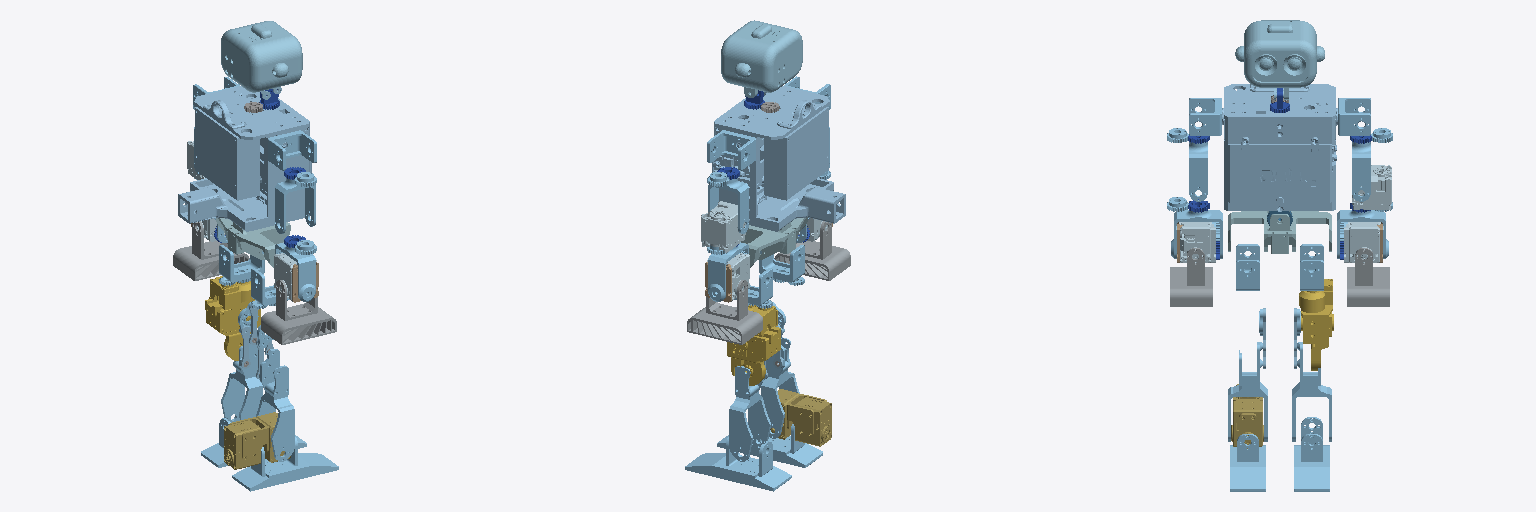
--- Facts derived from the render (not from the file) ---
3 views of the same robot in one strip: view 1: azimuth 30°, elevation 25°; view 2: azimuth 150°, elevation 25°; view 3: azimuth 270°, elevation 25° (orthographic).
Model toddlerbot with 67 links and 66 joints (56 revolute, 10 fixed), rooted at torso, posed all joints at 0.
Links seen in each view (by area): view 1: torso, head, right_calf_link, hand_2, left_hip_pitch_link, right_ank_pitch_link, ank_roll_link_2, left_calf_link, hand, waist_link, sho_pitch_link_2, sho_yaw_link_2 (+5 smaller); view 2: torso, head, left_calf_link, ank_roll_link, hand, right_ank_pitch_link, left_hip_pitch_link, hand_2, right_calf_link, 2xl430_gears_2, waist_link, ank_roll_link_2 (+6 smaller); view 3: torso, head, ank_roll_link, waist_link, left_hip_pitch_link, hand_2, hand, ank_roll_link_2, right_ank_pitch_link, 2xl430_gears_3, 2xl430_gears_6, right_calf_link (+10 smaller).
Boxes of the visible links, x1,y1,x2,y2 form: torso: [178, 86, 311, 231]; head: [221, 21, 302, 92]; right_calf_link: [256, 349, 294, 461]; hand_2: [261, 280, 336, 344]; left_hip_pitch_link: [205, 276, 260, 360]; right_ank_pitch_link: [224, 412, 290, 469]; ank_roll_link_2: [232, 437, 338, 491]; left_calf_link: [221, 334, 262, 422]; hand: [173, 221, 249, 280]; waist_link: [216, 218, 290, 267]; sho_pitch_link_2: [268, 130, 316, 170]; sho_yaw_link_2: [275, 178, 315, 233]; torso: [712, 86, 845, 231]; head: [721, 20, 802, 97]; left_calf_link: [729, 366, 770, 461]; ank_roll_link: [685, 437, 791, 491]; hand: [687, 280, 762, 344]; right_ank_pitch_link: [770, 389, 831, 446]; left_hip_pitch_link: [727, 305, 780, 385]; hand_2: [774, 221, 850, 280]; right_calf_link: [761, 337, 799, 438]; 2xl430_gears_2: [701, 201, 745, 252]; waist_link: [741, 217, 807, 267]; ank_roll_link_2: [717, 424, 822, 467]; torso: [1222, 84, 1337, 211]; head: [1235, 20, 1324, 99]; ank_roll_link: [1294, 417, 1329, 491]; waist_link: [1228, 211, 1331, 253]; left_hip_pitch_link: [1299, 279, 1333, 370]; hand_2: [1170, 248, 1212, 306]; hand: [1347, 248, 1389, 306]; ank_roll_link_2: [1230, 434, 1265, 491]; right_ank_pitch_link: [1231, 384, 1263, 448]; 2xl430_gears_3: [1344, 222, 1380, 262]; 2xl430_gears_6: [1179, 222, 1215, 262]; right_calf_link: [1228, 342, 1267, 441].
Bounding box of the posed robot: 0.1752 × 0.2619 × 0.5614 m (x, y, z).
Meshes: 67 distinct files referenced, 60 mesh visuals loaded (60 binary STL); not drawn: 7 (reference not matched to a file when rendering).

The robot description file, URDF, robot "toddlerbot":
<?xml version="1.0" ?>
<robot name="toddlerbot">
  <mujoco>
    <compiler strippath="false" balanceinertia="true" discardvisual="false"/>
  </mujoco>
  <link name="torso">
    <visual>
      <origin xyz="0 0 0" rpy="0 -0 0"/>
      <geometry>
        <mesh filename="../assemblies/toddlerbot/meshes/torso_visual.stl"/>
      </geometry>
      <material name="torso_material">
        <color rgba="0.63866204066417398 0.79042612983052995546 0.89591918647189450198 1.0"/>
      </material>
    </visual>
    <collision name="torso_collision">
      <origin xyz="-0.02850000374019146 -5.000084638595581e-05 0.07068824046291411" rpy="0 0 0"/>
      <geometry>
        <box size="0.14100000634789467 0.13759998977184296 0.1454972173087299"/>
      </geometry>
    </collision>
    <inertial>
      <origin xyz="-0.0026180240206912603826 -0.0033389249991023252362 0.065426598309827305178" rpy="0 0 0"/>
      <mass value="1.085065963101202513"/>
      <inertia ixx="0.0028394422513802835238" ixy="7.2802503934375956997e-05" ixz="1.3076400897980156921e-05" iyy="0.002260906039368253042" iyz="-2.183962720868887802e-05" izz="0.0022996340769918456777"/>
    </inertial>
  </link>
  <link name="spur_1m_20t">
    <visual>
      <origin xyz="0 0 0" rpy="0 -0 0"/>
      <geometry>
        <mesh filename="../assemblies/toddlerbot/meshes/spur_1m_20t_visual.stl"/>
      </geometry>
      <material name="spur_1m_20t_material">
        <color rgba="0.64705882352941179736 0.64705882352941179736 0.64705882352941179736 1.0"/>
      </material>
    </visual>
    <inertial>
      <origin xyz="-1.1300904133467477148e-18 -8.2138761651919509895e-18 0.0033842321054344710884" rpy="0 0 0"/>
      <mass value="0.0015778025963746002049"/>
      <inertia ixx="4.5874424196602111379e-08" ixy="3.1933561703873518534e-24" ixz="8.2808267371582993255e-38" iyy="4.5874424196602091527e-08" iyz="-6.0163727915893723463e-38" izz="8.1737050837173876176e-08"/>
    </inertial>
  </link>
  <joint name="neck_yaw_drive" type="revolute">
    <origin xyz="-0.0049999999999995195857 2.6218353247046111074e-18 0.12148651076281755112" rpy="6.9435866101192579278e-15 7.3280040413333374539e-15 -5.2566133713766224513e-15"/>
    <parent link="torso"/>
    <child link="spur_1m_20t"/>
    <axis xyz="0 0 1"/>
    <limit effort="1" velocity="20" lower="-2.8797932657906435416" upper="2.8797932657906435416"/>
    <joint_properties friction="0.0"/>
  </joint>
  <link name="neck_yaw_link_v2">
    <visual>
      <origin xyz="0 0 0" rpy="0 -0 0"/>
      <geometry>
        <mesh filename="../assemblies/toddlerbot/meshes/neck_yaw_link_v2_visual.stl"/>
      </geometry>
      <material name="neck_yaw_link_v2_material">
        <color rgba="0.2313725490196078538 0.38039215686274513439 0.7058823529411765163 1.0"/>
      </material>
    </visual>
    <inertial>
      <origin xyz="-1.1403990895039929665e-06 -1.1841855607304331475e-10 0.0082571849701004625122" rpy="0 0 0"/>
      <mass value="0.0067298837334394097723"/>
      <inertia ixx="5.226606762476552417e-07" ixy="-6.304640079419265662e-15" ixz="1.1949403084477248015e-09" iyy="6.1218519979554078817e-07" iyz="-2.6012808779597337169e-15" izz="2.8062851709981670442e-07"/>
    </inertial>
  </link>
  <link name="head">
    <visual>
      <origin xyz="0 0 0" rpy="0 -0 0"/>
      <geometry>
        <mesh filename="../assemblies/toddlerbot/meshes/head_visual.stl"/>
      </geometry>
      <material name="head_material">
        <color rgba="0.62873939703496795062 0.79364291305093481732 0.87330110949792516539 1.0"/>
      </material>
    </visual>
    <inertial>
      <origin xyz="-0.045316002313821032721 -0.011276855645191508418 -0.0010251236602536308116" rpy="0 0 0"/>
      <mass value="0.13722101760550839411"/>
      <inertia ixx="0.00011880807294044862146" ixy="1.1390016804761055477e-06" ixz="1.8378816154939927108e-06" iyy="0.00010489076115433052991" iyz="-9.2536559812163435491e-06" izz="9.1894624061611778995e-05"/>
    </inertial>
  </link>
  <link name="motor_plate">
    <visual>
      <origin xyz="0 0 0" rpy="0 -0 0"/>
      <geometry>
        <mesh filename="../assemblies/toddlerbot/meshes/motor_plate_visual.stl"/>
      </geometry>
      <material name="motor_plate_material">
        <color rgba="0.64705882352941179736 0.64705882352941179736 0.64705882352941179736 1.0"/>
      </material>
    </visual>
    <inertial>
      <origin xyz="0 3.4694469519536141888e-18 -0.0028281768943845490144" rpy="0 0 0"/>
      <mass value="0.0016999999999999999053"/>
      <inertia ixx="4.8050290733103730215e-08" ixy="1.0773753257370437902e-09" ixz="2.6292013878342271482e-36" iyy="5.1782428339099030199e-08" iyz="4.6279080697707239297e-37" izz="9.2194729037862196389e-08"/>
    </inertial>
  </link>
  <link name="bearing_683">
    <visual>
      <origin xyz="0 0 0" rpy="0 -0 0"/>
      <geometry>
        <mesh filename="../assemblies/toddlerbot/meshes/bearing_683_visual.stl"/>
      </geometry>
      <material name="bearing_683_material">
        <color rgba="0.64705882352941179736 0.64705882352941179736 0.64705882352941179736 1.0"/>
      </material>
    </visual>
    <inertial>
      <origin xyz="-2.7648254672676526986e-17 2.7997443358460509995e-17 -0.0015500000000000008129" rpy="0 0 0"/>
      <mass value="0.00048694686130641793437"/>
      <inertia ixx="2.1551456503319879113e-09" ixy="1.0805664552050303029e-25" ixz="2.7791788803624942178e-38" iyy="2.1551456503319883249e-09" iyz="-6.2270811565965561025e-39" izz="3.5303647444715305817e-09"/>
    </inertial>
  </link>
  <joint name="neck_pitch_front_rev_2" type="revolute">
    <origin xyz="-0.0019411428382689055461 -0.0072444436971680244153 -0.0055000000000000014155" rpy="1.648198112299273894e-14 -4.6631263956190005776e-15 0.8807659428774070598"/>
    <parent link="motor_plate"/>
    <child link="bearing_683"/>
    <axis xyz="0 0 1"/>
    <limit effort="1" velocity="20" lower="-6.283185307179586232" upper="6.283185307179586232"/>
    <joint_properties friction="0.0"/>
  </joint>
  <link name="bearing_683_2">
    <visual>
      <origin xyz="0 0 0" rpy="0 -0 0"/>
      <geometry>
        <mesh filename="../assemblies/toddlerbot/meshes/bearing_683_2_visual.stl"/>
      </geometry>
      <material name="bearing_683_2_material">
        <color rgba="0.64705882352941179736 0.64705882352941179736 0.64705882352941179736 1.0"/>
      </material>
    </visual>
    <inertial>
      <origin xyz="1.0732094295237706334e-19 2.4186774283160206952e-19 -0.0015499999999999999455" rpy="0 0 0"/>
      <mass value="0.00048694686130641793437"/>
      <inertia ixx="2.1551456503319887385e-09" ixy="2.2768440186723943194e-25" ixz="-2.7783146208504636862e-41" iyy="2.1551456503319874977e-09" iyz="-4.0130515075389140523e-40" izz="3.5303647444715305817e-09"/>
    </inertial>
  </link>
  <joint name="neck_pitch_back_rev_2" type="revolute">
    <origin xyz="0.0019411428382688777905 0.0072444436971680035986 -0.0055000000000000014155" rpy="-1.772972718293551218e-13 -8.9252052021485662993e-14 0.877871016585597852"/>
    <parent link="motor_plate"/>
    <child link="bearing_683_2"/>
    <axis xyz="0 0 1"/>
    <limit effort="1" velocity="20" lower="-6.283185307179586232" upper="6.283185307179586232"/>
    <joint_properties friction="0.0"/>
  </joint>
  <joint name="neck_pitch_act" type="revolute">
    <origin xyz="-0.03261569771856148714 -0.026999999999999829692 0.0025000000000000568642" rpy="-3.1415926535897500393 -1.9259241935317556699e-13 -3.1415926535897105154"/>
    <parent link="head"/>
    <child link="motor_plate"/>
    <axis xyz="0 0 1"/>
    <limit effort="1" velocity="20" lower="-1.3962634015954635824" upper="0.61086523819801530344"/>
    <joint_properties friction="0.0"/>
  </joint>
  <joint name="neck_pitch" type="revolute">
    <origin xyz="4.0939474033052647428e-16 0.0039999999999996652816 0.019399999999999681388" rpy="-1.570796326794896558 1.5671692223473558947 3.1415926535895866145"/>
    <parent link="neck_yaw_link_v2"/>
    <child link="head"/>
    <axis xyz="0 0 1"/>
    <limit effort="1" velocity="20" lower="-1.3962634015954635824" upper="0.61086523819801530344"/>
    <joint_properties friction="0.0"/>
  </joint>
  <link name="neck_rod">
    <visual>
      <origin xyz="0 0 0" rpy="0 -0 0"/>
      <geometry>
        <mesh filename="../assemblies/toddlerbot/meshes/neck_rod_visual.stl"/>
      </geometry>
      <material name="neck_rod_material">
        <color rgba="0.62051618944235187314 0.78640765248647570562 0.88594253031295011613 1.0"/>
      </material>
    </visual>
    <inertial>
      <origin xyz="0.017942953356017549843 -4.2302323058491907029e-05 -0.0016023848482654536388" rpy="0 0 0"/>
      <mass value="0.0031629468613064174939"/>
      <inertia ixx="1.6183187611801482051e-08" ixy="4.3686324078027123917e-10" ixz="5.409871828883835504e-10" iyy="7.9430220338146775594e-07" iyz="-1.2754318712098216996e-12" izz="8.0573905690504716438e-07"/>
    </inertial>
  </link>
  <joint name="neck_pitch_front_rev_1" type="revolute">
    <origin xyz="-0.0072444436971676028775 -0.0040000000000003348849 0.017458857161730803598" rpy="1.5707963267945912467 -0.88439304732486501148 -3.1415926535895128957"/>
    <parent link="neck_yaw_link_v2"/>
    <child link="neck_rod"/>
    <axis xyz="0 0 1"/>
    <limit effort="1" velocity="20" lower="-6.283185307179586232" upper="6.283185307179586232"/>
    <joint_properties friction="0.0"/>
  </joint>
  <link name="neck_rod_2">
    <visual>
      <origin xyz="0 0 0" rpy="0 -0 0"/>
      <geometry>
        <mesh filename="../assemblies/toddlerbot/meshes/neck_rod_2_visual.stl"/>
      </geometry>
      <material name="neck_rod_2_material">
        <color rgba="0.62051618944235187314 0.78640765248647570562 0.88594253031295011613 1.0"/>
      </material>
    </visual>
    <inertial>
      <origin xyz="0.017901072327987890831 4.2302323075698717279e-05 -0.0016023848482719094122" rpy="0 0 0"/>
      <mass value="0.0031629468613064174939"/>
      <inertia ixx="1.618318761180265003e-08" ixy="-4.3584354920108695193e-10" ixz="5.3972445329606849492e-10" iyy="7.9343818800635532239e-07" iyz="1.2754318723706440774e-12" izz="8.0487504152993547198e-07"/>
    </inertial>
  </link>
  <joint name="neck_pitch_back_rev_1" type="revolute">
    <origin xyz="0.0072444436971684372795 -0.0040000000000003444259 0.021341142838268642445" rpy="1.57079632679489678 -0.88149812103305569266 3.141592653589793116"/>
    <parent link="neck_yaw_link_v2"/>
    <child link="neck_rod_2"/>
    <axis xyz="0 0 1"/>
    <limit effort="1" velocity="20" lower="-6.283185307179586232" upper="6.283185307179586232"/>
    <joint_properties friction="0.0"/>
  </joint>
  <joint name="neck_yaw_driven" type="revolute">
    <origin xyz="0.016000000000000187683 3.3495693113774157688e-16 0.12248651076281769079" rpy="1.1355899249689346505e-28 4.0151578034893218507e-15 -8.6007558735577894134e-16"/>
    <parent link="torso"/>
    <child link="neck_yaw_link_v2"/>
    <axis xyz="0 0 1"/>
    <limit effort="1" velocity="20" lower="-2.6179938779914944114" upper="2.6179938779914944114"/>
    <joint_properties friction="0.0"/>
  </joint>
  <link name="waist_gears">
    <visual>
      <origin xyz="0 0 0" rpy="0 -0 0"/>
      <geometry>
        <mesh filename="../assemblies/toddlerbot/meshes/waist_gears_visual.stl"/>
      </geometry>
      <material name="waist_gears_material">
        <color rgba="0.29673072126509869584 0.50090014891145373532 0.63316042503557945498 1.0"/>
      </material>
    </visual>
    <inertial>
      <origin xyz="-2.908902430919231e-07 5.5035553754012024303e-08 -0.012592985430860473284" rpy="0 0 0"/>
      <mass value="0.026337180140419177987"/>
      <inertia ixx="1.5367047941033391468e-06" ixy="1.8828487086056562372e-11" ixz="4.0600521961735931123e-10" iyy="7.3024712275450283125e-06" iyz="3.2911737859007853936e-12" izz="6.9859065635059256703e-06"/>
    </inertial>
  </link>
  <link name="waist_link">
    <visual>
      <origin xyz="0 0 0" rpy="0 -0 0"/>
      <geometry>
        <mesh filename="../assemblies/toddlerbot/meshes/waist_link_visual.stl"/>
      </geometry>
      <material name="waist_link_material">
        <color rgba="0.64205964988973118768 0.77112878115803895618 0.80455743168009175026 1.0"/>
      </material>
    </visual>
    <collision name="waist_link_collision">
      <origin xyz="0.0 -0.021850000135600567 -0.022750000469386578" rpy="0 0 0"/>
      <geometry>
        <box size="0.11999999731779099 0.057499999180436134 0.07000000216066837"/>
      </geometry>
    </collision>
    <inertial>
      <origin xyz="-1.5259387594791803393e-17 -0.024647143936898239375 -0.024243097328499926824" rpy="0 0 0"/>
      <mass value="0.10819999998618363979"/>
      <inertia ixx="4.7479700735669831376e-05" ixy="-4.0569486732969518828e-20" ixz="-5.6250747312697810454e-09" iyy="9.6352172992785395161e-05" iyz="1.5514215856080582023e-06" izz="6.724924647302820465e-05"/>
    </inertial>
  </link>
  <link name="spiral_bevel_1m_14t_30deg">
    <visual>
      <origin xyz="0 0 0" rpy="0 -0 0"/>
      <geometry>
        <mesh filename="../assemblies/toddlerbot/meshes/spiral_bevel_1m_14t_30deg_visual.stl"/>
      </geometry>
      <material name="spiral_bevel_1m_14t_30deg_material">
        <color rgba="0.64705882352941179736 0.64705882352941179736 0.64705882352941179736 1.0"/>
      </material>
    </visual>
    <inertial>
      <origin xyz="7.4971447279470481499e-10 7.1802237549753455959e-10 0.0066868955018979121113" rpy="0 0 0"/>
      <mass value="0.00073261524436595492574"/>
      <inertia ixx="1.3495056019478195011e-08" ixy="4.0596681656909248509e-17" ixz="8.5992550180286643448e-16" iyy="1.3495056150237195634e-08" iyz="-6.7913008238911449477e-16" izz="1.4355986549816401791e-08"/>
    </inertial>
  </link>
  <joint name="waist_act_1" type="revolute">
    <origin xyz="1.5779046203862292755e-18 -0.019600000000000009776 -0.012750000000000000916" rpy="1.570796326794896336 4.5657245710443242119e-14 3.1415926535897775729"/>
    <parent link="waist_link"/>
    <child link="spiral_bevel_1m_14t_30deg"/>
    <axis xyz="0 0 1"/>
    <limit effort="1" velocity="20" lower="-4.6774823953448034786" upper="4.6774823953448034786"/>
    <joint_properties friction="0.0"/>
  </joint>
  <link name="spiral_bevel_1m_14t_30deg_2">
    <visual>
      <origin xyz="0 0 0" rpy="0 -0 0"/>
      <geometry>
        <mesh filename="../assemblies/toddlerbot/meshes/spiral_bevel_1m_14t_30deg_2_visual.stl"/>
      </geometry>
      <material name="spiral_bevel_1m_14t_30deg_2_material">
        <color rgba="0.64705882352941179736 0.64705882352941179736 0.64705882352941179736 1.0"/>
      </material>
    </visual>
    <inertial>
      <origin xyz="3.6393116992217144912e-10 -9.7220472557862924745e-10 -0.0066868955018979155808" rpy="0 0 0"/>
      <mass value="0.00073261524436595492574"/>
      <inertia ixx="1.3495056012354477525e-08" ixy="2.5804135492145296637e-17" ixz="-1.0694296052499994646e-15" iyy="1.3495056157360913119e-08" iyz="-2.3876736942924337051e-16" izz="1.4355986549816401791e-08"/>
    </inertial>
  </link>
  <joint name="waist_act_2" type="revolute">
    <origin xyz="-4.2424946903466443955e-18 -0.019600000000000016714 -0.03275000000000001521" rpy="-1.570796326794896558 4.4675706846037577046e-14 3.1415926535897922278"/>
    <parent link="waist_link"/>
    <child link="spiral_bevel_1m_14t_30deg_2"/>
    <axis xyz="0 0 1"/>
    <limit effort="1" velocity="20" lower="-4.6774823953448034786" upper="4.6774823953448034786"/>
    <joint_properties friction="0.0"/>
  </joint>
  <joint name="left_hip_pitch" type="revolute">
    <origin xyz="0.056000000000000001166 -0.040099999999999996758 -0.022750000000000002859" rpy="-1.570796326794896558 1.184178074896365092e-14 1.5707963267948958919"/>
    <parent link="waist_link"/>
    <child link="2xc430"/>
    <axis xyz="0 0 1"/>
    <limit effort="1" velocity="20" lower="-1.570796326794896558" upper="2.356194490192344837"/>
    <joint_properties friction="0.0"/>
  </joint>
  <joint name="right_hip_pitch" type="revolute">
    <origin xyz="-0.056000000000000008105 -0.040100000000000010636 -0.022750000000000002859" rpy="1.57079632679489678 -3.5857808115535774538e-14 1.5707963267948972241"/>
    <parent link="waist_link"/>
    <child link="2xc430_2"/>
    <axis xyz="0 0 1"/>
    <limit effort="1" velocity="20" lower="-2.356194490192344837" upper="1.570796326794896558"/>
    <joint_properties friction="0.0"/>
  </joint>
  <joint name="waist_roll" type="revolute">
    <origin xyz="-0.022707865260692374626 -6.1958282368095533642e-18 -0.01399999999999982335" rpy="1.5707963267948978903 -1.9153977176001457857e-13 -1.570796326794896336"/>
    <parent link="waist_gears"/>
    <child link="waist_link"/>
    <axis xyz="0 0 1"/>
    <limit effort="1" velocity="20" lower="-0.52359877559829881566" upper="0.52359877559829881566"/>
    <joint_properties friction="0.0"/>
  </joint>
  <joint name="waist_yaw" type="revolute">
    <origin xyz="0 3.9443045261050590271e-31 0" rpy="-6.9406589306071306764e-17 -4.2741086826404963114e-15 -3.1415926535897500393"/>
    <parent link="torso"/>
    <child link="waist_gears"/>
    <axis xyz="0 0 1"/>
    <limit effort="1" velocity="20" lower="-1.570796326794896558" upper="1.570796326794896558"/>
    <joint_properties friction="0.0"/>
  </joint>
  <joint name="left_sho_pitch" type="revolute">
    <origin xyz="-0.0035000000000003916867 0.067000000000001030953 0.10423651076281714722" rpy="-1.5707963267949094366 -4.1189274213593181432e-14 3.6803893266323825719e-14"/>
    <parent link="torso"/>
    <child link="sho_pitch_link"/>
    <axis xyz="0 0 1"/>
    <limit effort="1" velocity="20" lower="-3.141592653589793116" upper="1.570796326794896558"/>
    <joint_properties friction="0.0"/>
  </joint>
  <joint name="right_sho_pitch" type="revolute">
    <origin xyz="-0.003499999999998670841 -0.067000000000001086464 0.10423651076281725825" rpy="-1.5707963267948874542 3.4821687755471215053e-14 -3.1415926535897615857"/>
    <parent link="torso"/>
    <child link="sho_pitch_link_2"/>
    <axis xyz="0 0 1"/>
    <limit effort="1" velocity="20" lower="-1.570796326794896558" upper="3.141592653589793116"/>
    <joint_properties friction="0.0"/>
  </joint>
  <link name="2xc430">
    <visual>
      <origin xyz="0 0 0" rpy="0 -0 0"/>
      <geometry>
        <mesh filename="../assemblies/left_leg_reorder/meshes/left_2xc430_visual.stl"/>
      </geometry>
      <material name="2xc430_material">
        <color rgba="0.51698661238356047321 0.50347815951093488618 0.49050589017722012741 1.0"/>
      </material>
    </visual>
    <inertial>
      <origin xyz="-0.0120001511339564923 0.00049588831385626367092 0.01850401924450319896" rpy="0 0 0"/>
      <mass value="0.11059999999836234164"/>
      <inertia ixx="2.2818802599017385101e-05" ixy="4.6888548258345894655e-08" ixz="4.6520143289217505514e-08" iyy="3.0871666424467696587e-05" iyz="-5.7477343899723834052e-07" izz="3.0871632082336744173e-05"/>
    </inertial>
  </link>
  <link name="hip_yaw_link">
    <visual>
      <origin xyz="0 0 0" rpy="0 -0 0"/>
      <geometry>
        <mesh filename="../assemblies/left_leg_reorder/meshes/left_hip_yaw_link_visual.stl"/>
      </geometry>
      <material name="hip_yaw_link_material">
        <color rgba="0.61568627450980395466 0.81176470588235294379 0.92941176470588238168 1.0"/>
      </material>
    </visual>
    <inertial>
      <origin xyz="-2.6788828011920776553e-18 -0.015800610849654273676 -0.019005670096647751116" rpy="0 0 0"/>
      <mass value="0.013199999999999992989"/>
      <inertia ixx="5.789461597517412337e-06" ixy="-8.9146992682572530072e-42" ixz="2.3029045376022530017e-38" iyy="5.0110144042848776317e-06" iyz="1.1826010760651176287e-09" izz="2.7344876354814331659e-06"/>
    </inertial>
  </link>
  <link name="spur_gear_21_teeth">
    <visual>
      <origin xyz="0 0 0" rpy="0 -0 0"/>
      <geometry>
        <mesh filename="../assemblies/left_leg_reorder/meshes/left_spur_gear_21_teeth_visual.stl"/>
      </geometry>
      <material name="spur_gear_21_teeth_material">
        <color rgba="0.61568627450980395466 0.81176470588235294379 0.9294117647058824927 1.0"/>
      </material>
    </visual>
    <inertial>
      <origin xyz="-4.5505289335411606329e-11 -1.6782167131337769527e-11 -0.00249241020062506086" rpy="0 0 0"/>
      <mass value="0.0022000000000000001325"/>
      <inertia ixx="7.0162310059594196881e-08" ixy="0" ixz="3.5821515246363659276e-39" iyy="7.016231005804746178e-08" iyz="3.4592689640492888782e-39" izz="1.3125544198538289306e-07"/>
    </inertial>
  </link>
  <link name="left_hip_pitch_link">
    <visual>
      <origin xyz="0 0 0" rpy="0 -0 0"/>
      <geometry>
        <mesh filename="../assemblies/left_leg_reorder/meshes/left_hip_pitch_link_visual.stl"/>
      </geometry>
      <material name="left_hip_pitch_link_material">
        <color rgba="0.80773802221328794282 0.71541030077254164077 0.35058406659986895981 1.0"/>
      </material>
    </visual>
    <collision name="left_hip_pitch_link_collision">
      <origin xyz="-0.009275000542402267 -0.004349999129772186 0.05247500166296959" rpy="0 0 0"/>
      <geometry>
        <box size="0.05855000019073486 0.042399998754262924 0.10495000332593918"/>
      </geometry>
    </collision>
    <inertial>
      <origin xyz="-0.0099310748247876095424 -0.0055733268638735221703 0.039014117054800540041" rpy="0 0 0"/>
      <mass value="0.14895408167669133004"/>
      <inertia ixx="7.3955327919484554534e-05" ixy="-1.1805488631449676488e-06" ixz="-8.0603251552292261945e-06" iyy="8.8995102919697799664e-05" iyz="1.1275669888581082312e-06" izz="4.229226925645443425e-05"/>
    </inertial>
  </link>
  <link name="spur_gear_18_teeth">
    <visual>
      <origin xyz="0 0 0" rpy="0 -0 0"/>
      <geometry>
        <mesh filename="../assemblies/left_leg_reorder/meshes/left_spur_gear_18_teeth_visual.stl"/>
      </geometry>
      <material name="spur_gear_18_teeth_material">
        <color rgba="0.61568627450980395466 0.81176470588235294379 0.92941176470588238168 1.0"/>
      </material>
    </visual>
    <inertial>
      <origin xyz="-5.1949311242382435497e-14 -2.4694124227557309252e-13 0.0071513122316232257542" rpy="0 0 0"/>
      <mass value="0.00080399356292630238564"/>
      <inertia ixx="2.0123636882888889372e-08" ixy="2.1553335600797640032e-16" ixz="-2.0678132065284356934e-39" iyy="2.012363672795583975e-08" iyz="-1.9859628258607443751e-39" izz="3.1595601997159143493e-08"/>
    </inertial>
  </link>
  <joint name="left_hip_yaw_drive" type="revolute">
    <origin xyz="-0.019199999999995859268 0.00020000000000327047833 0.0064999999999706542519" rpy="-3.1415926535897922278 -1.1023290397713749775e-15 3.1415926535897926719"/>
    <parent link="left_hip_pitch_link"/>
    <child link="spur_gear_18_teeth"/>
    <axis xyz="0 0 1"/>
    <limit effort="1" velocity="20" lower="-1.8325957145940461324" upper="1.8325957145940461324"/>
    <joint_properties friction="0.0"/>
  </joint>
  <link name="left_calf_link">
    <visual>
      <origin xyz="0 0 0" rpy="0 -0 0"/>
      <geometry>
        <mesh filename="../assemblies/left_leg_reorder/meshes/left_calf_link_visual.stl"/>
      </geometry>
      <material name="left_calf_link_material">
        <color rgba="0.61568627450980395466 0.81176470588235294379 0.92941176470588238168 1.0"/>
      </material>
    </visual>
    <inertial>
      <origin xyz="-0.0043450054391243842986 0.040752982165250653535 0.0087116093515534290953" rpy="0 0 0"/>
      <mass value="0.030999999999999992839"/>
      <inertia ixx="3.3069388685112529225e-05" ixy="-1.3783307153200129991e-06" ixz="-1.2742534026331719223e-07" iyy="7.7316525337314278736e-06" iyz="-7.3356500593883571098e-08" izz="2.8031377753987348096e-05"/>
    </inertial>
  </link>
  <link name="bearing_683_3">
    <visual>
      <origin xyz="0 0 0" rpy="0 -0 0"/>
      <geometry>
        <mesh filename="../assemblies/left_leg_reorder/meshes/left_bearing_683_visual.stl"/>
      </geometry>
      <material name="bearing_683_material">
        <color rgba="0.64705882352941179736 0.64705882352941179736 0.64705882352941179736 1.0"/>
      </material>
    </visual>
    <inertial>
      <origin xyz="-2.7648254672676536231e-17 -2.4186774283160226211e-19 -0.0015500000000000003792" rpy="0 0 0"/>
      <mass value="0.00048694686130641793437"/>
      <inertia ixx="2.1551456503319887385e-09" ixy="4.9267306786690215198e-28" ixz="-6.9624168202103941184e-40" iyy="2.1551456503319883249e-09" iyz="0" izz="3.5303647444715305817e-09"/>
    </inertial>
  </link>
  <joint name="left_knee_front_rev_2" type="revolute">
    <origin xyz="-0.0057402514854764446692 -0.013858192987668910279 0.026199999999999806777" rpy="3.141592653589793116 -2.6658986873461889469e-19 -1.5720018459275955092"/>
    <parent link="left_calf_link"/>
    <child link="bearing_683_3"/>
    <axis xyz="0 0 1"/>
    <limit effort="1" velocity="20"/>
    <joint_properties friction="0.0"/>
  </joint>
  <link name="bearing_683_4">
    <visual>
      <origin xyz="0 0 0" rpy="0 -0 0"/>
      <geometry>
        <mesh filename="../assemblies/left_leg_reorder/meshes/left_bearing_683_2_visual.stl"/>
      </geometry>
      <material name="bearing_683_2_material">
        <color rgba="0.64705882352941179736 0.64705882352941179736 0.64705882352941179736 1.0"/>
      </material>
    </visual>
    <inertial>
      <origin xyz="1.0732094295237771334e-19 -1.1092294808200058093e-18 -0.0015500000000000003792" rpy="0 0 0"/>
      <mass value="0.00048694686130641793437"/>
      <inertia ixx="2.1551456503319895657e-09" ixy="-5.8026584312313582246e-29" ixz="-2.2425384383440883957e-39" iyy="2.1551456503319883249e-09" iyz="1.1443785659275753027e-59" izz="3.5303647444715305817e-09"/>
    </inertial>
  </link>
  <joint name="left_knee_back_rev_2" type="revolute">
    <origin xyz="0.0057402514854763128302 0.013858192987669520901 0.026199999999999820655" rpy="3.1415926535897926719 1.2765047101265124586e-15 -1.5719345627640661789"/>
    <parent link="left_calf_link"/>
    <child link="bearing_683_4"/>
    <axis xyz="0 0 1"/>
    <limit effort="1" velocity="20"/>
    <joint_properties friction="0.0"/>
  </joint>
  <link name="left_ank_pitch_link">
    <visual>
      <origin xyz="0 0 0" rpy="0 -0 0"/>
      <geometry>
        <mesh filename="../assemblies/left_leg_reorder/meshes/left_ank_pitch_link_visual.stl"/>
      </geometry>
      <material name="left_ank_pitch_link_material">
        <color rgba="0.70321688500203349825 0.64514870846184457776 0.40484735422826251261 1.0"/>
      </material>
    </visual>
    <collision name="left_ank_pitch_link_collision">
      <origin xyz="0.01934999879449606 0.012000000104308128 0.016799999633803964" rpy="0 0 0"/>
      <geometry>
        <box size="0.084799999371171 0.04650000110268593 0.046639998117461806"/>
      </geometry>
    </collision>
    <inertial>
      <origin xyz="0.017770241891401045847 0.012301334508572351473 0.018813528244421662966" rpy="0 0 0"/>
      <mass value="0.1767637669506791076"/>
      <inertia ixx="4.7283316680253283646e-05" ixy="-1.3380598598450345022e-06" ixz="-5.5304058905127566903e-07" iyy="0.00010706456048089217008" iyz="-5.322513783954201532e-08" izz="0.00012185522397136366337"/>
    </inertial>
  </link>
  <link name="ank_roll_link">
    <visual>
      <origin xyz="0 0 0" rpy="0 -0 0"/>
      <geometry>
        <mesh filename="../assemblies/left_leg_reorder/meshes/left_ank_roll_link_visual.stl"/>
      </geometry>
      <material name="ank_roll_link_material">
        <color rgba="0.61568627450980384364 0.81176470588235283277 0.92941176470588227065 1.0"/>
      </material>
    </visual>
    <collision name="ank_roll_link_collision">
      <origin xyz="-0.014500000514090061 0.0 0.038999998942017555" rpy="0 0 0"/>
      <geometry>
        <box size="0.04900000058114529 0.041999999433755875 0.12000000104308128"/>
      </geometry>
    </collision>
    <inertial>
      <origin xyz="-0.027003066516822063492 -2.0057306044881892286e-12 0.033764011359896428655" rpy="0 0 0"/>
      <mass value="0.042600000000000012856"/>
      <inertia ixx="3.7284397827464409376e-05" ixy="-5.5175845547796796131e-16" ixz="2.3929183768080916145e-06" iyy="3.7589276943350443088e-05" iyz="5.0934855377808009464e-12" izz="1.0090430906786770866e-05"/>
    </inertial>
  </link>
  <joint name="left_ank_roll" type="revolute">
    <origin xyz="0.022749999999983960136 -6.9111383282915994641e-15 0.019000000000000714234" rpy="-1.5707963267949474062 -1.4843511765636387656e-14 1.5707963267950975084"/>
    <parent link="left_ank_pitch_link"/>
    <child link="ank_roll_link"/>
    <axis xyz="0 0 1"/>
    <limit effort="1" velocity="20" lower="-1.570796326794896558" upper="1.570796326794896558"/>
    <joint_properties friction="0.0"/>
  </joint>
  <joint name="left_ank_pitch" type="revolute">
    <origin xyz="6.0459825159226438491e-16 0.099999999999999644729 0.027749999999999767908" rpy="-3.1415926535897926719 2.1632341620044295324e-16 -3.303485617132085651e-14"/>
    <parent link="left_calf_link"/>
    <child link="left_ank_pitch_link"/>
    <axis xyz="0 0 1"/>
    <limit effort="1" velocity="20" lower="-1.7453292519943295336" upper="0.785398163397448279"/>
    <joint_properties friction="0.0"/>
  </joint>
  <joint name="left_knee" type="revolute">
    <origin xyz="-2.0388404761970504005e-17 -0.0087500000000001014466 0.085949999999999859845" rpy="1.5707963267948985564 1.8697993545483485847e-15 3.1415926535897922278"/>
    <parent link="left_hip_pitch_link"/>
    <child link="left_calf_link"/>
    <axis xyz="0 0 1"/>
    <limit effort="1" velocity="20" lower="-2.0943951023931952626" upper="0"/>
    <joint_properties friction="0.0"/>
  </joint>
  <link name="xm430_plate">
    <visual>
      <origin xyz="0 0 0" rpy="0 -0 0"/>
      <geometry>
        <mesh filename="../assemblies/left_leg_reorder/meshes/left_xm430_plate_visual.stl"/>
      </geometry>
      <material name="xm430_plate_material">
        <color rgba="0.61568627450980395466 0.81176470588235294379 0.92941176470588227065 1.0"/>
      </material>
    </visual>
    <inertial>
      <origin xyz="1.4071106902214798841e-18 -2.6039898032607076159e-18 0.0025278513919583887187" rpy="0 0 0"/>
      <mass value="0.0026999999999999997093"/>
      <inertia ixx="1.2887178787151822041e-07" ixy="5.87395625563035933e-08" ixz="-1.7975784406729202332e-38" iyy="2.4635091298412534083e-07" iyz="-4.0956813139218174709e-39" izz="3.6467998413810316538e-07"/>
    </inertial>
  </link>
  <link name="knee_rod">
    <visual>
      <origin xyz="0 0 0" rpy="0 -0 0"/>
      <geometry>
        <mesh filename="../assemblies/left_leg_reorder/meshes/left_knee_rod_visual.stl"/>
      </geometry>
      <material name="knee_rod_material">
        <color rgba="0.62051618944235198416 0.78640765248647581664 0.88594253031295011613 1.0"/>
      </material>
    </visual>
    <inertial>
      <origin xyz="0.017534287432906647125 -4.2275889155916718482e-05 -0.0015987301647640860848" rpy="0 0 0"/>
      <mass value="0.003162946861306418795"/>
      <inertia ixx="2.4225257802878432684e-08" ixy="4.2664654149332194328e-10" ixz="4.9178282652746138198e-10" iyy="8.1758847647263870163e-07" iyz="-1.1857086489790707382e-12" izz="8.370492537402261536e-07"/>
    </inertial>
  </link>
  <joint name="left_knee_front_rev_1" type="revolute">
    <origin xyz="0.013858192987669312735 -0.0057402514854763518615 0.0050000000000000183187" rpy="-3.1415926535897926719 5.565031046053354564e-16 3.1403871344570974955"/>
    <parent link="xm430_plate"/>
    <child link="knee_rod"/>
    <axis xyz="0 0 1"/>
    <limit effort="1" velocity="20"/>
    <joint_properties friction="0.0"/>
  </joint>
  <link name="knee_rod_2">
    <visual>
      <origin xyz="0 0 0" rpy="0 -0 0"/>
      <geometry>
        <mesh filename="../assemblies/left_leg_reorder/meshes/left_knee_rod_2_visual.stl"/>
      </geometry>
      <material name="knee_rod_2_material">
        <color rgba="0.62051618944235198416 0.78640765248647581664 0.88594253031295011613 1.0"/>
      </material>
    </visual>
    <inertial>
      <origin xyz="0.017534290197983727622 -3.9916362690055996005e-05 -0.0015987301647640411988" rpy="0 0 0"/>
      <mass value="0.003162946861306418795"/>
      <inertia ixx="2.4225146182602337484e-08" ixy="4.0283436058596815725e-10" ixz="4.9178290407814696075e-10" iyy="8.1758853228271188338e-07" iyz="-1.1195311895769243565e-12" izz="8.3704919793004433987e-07"/>
    </inertial>
  </link>
  <joint name="left_knee_back_rev_1" type="revolute">
    <origin xyz="-0.013858192987669271101 0.0057402514854763241059 0.0050000000000000391354" rpy="-3.1415926535897922278 -2.1080453069702113353e-15 3.1404544176206248274"/>
    <parent link="xm430_plate"/>
    <child link="knee_rod_2"/>
    <axis xyz="0 0 1"/>
    <limit effort="1" velocity="20"/>
    <joint_properties friction="0.0"/>
  </joint>
  <joint name="left_knee_act" type="revolute">
    <origin xyz="6.9695166342471272367e-17 0.012449999999999992323 0.044500000000000053402" rpy="-1.5707963267948956698 1.5707963267948954478 0"/>
    <parent link="left_hip_pitch_link"/>
    <child link="xm430_plate"/>
    <axis xyz="0 0 1"/>
    <limit effort="1" velocity="20" lower="-2.0943951023931952626" upper="0"/>
    <joint_properties friction="0.0"/>
  </joint>
  <joint name="left_hip_yaw_driven" type="revolute">
    <origin xyz="-1.0958428267520217697e-17 2.0816681711721685133e-17 -0.0050000000000001224021" rpy="-3.1415926535897926719 -1.458624115281054252e-15 -4.4435634532580858026e-16"/>
    <parent link="spur_gear_21_teeth"/>
    <child link="left_hip_pitch_link"/>
    <axis xyz="0 0 1"/>
    <limit effort="1" velocity="20" lower="-1.570796326794896558" upper="1.570796326794896558"/>
    <joint_properties friction="0.0"/>
  </joint>
  <joint name="left_hip_yaw_fixed" type="fixed">
    <origin xyz="-3.4694469519536141888e-18 -0.027999999999999986705 -0.018999999999999999528" rpy="-1.5707963267948972241 1.5707963267948956698 0"/>
    <parent link="hip_yaw_link"/>
    <child link="spur_gear_21_teeth"/>
    <axis xyz="0 0 1"/>
    <limit effort="1" velocity="20"/>
    <joint_properties friction="0.0"/>
  </joint>
  <joint name="left_hip_roll" type="revolute">
    <origin xyz="-0.024000000716139988088 0.019000000152447765744 0.019000000152447751867" rpy="-1.5707963267948970021 -1.5707963267948961139 0"/>
    <parent link="2xc430"/>
    <child link="hip_yaw_link"/>
    <axis xyz="0 0 1"/>
    <limit effort="1" velocity="20" lower="-0.785398163397448279" upper="0.785398163397448279"/>
    <joint_properties friction="0.0"/>
  </joint>
  <link name="2xc430_2">
    <visual>
      <origin xyz="0 0 0" rpy="0 -0 0"/>
      <geometry>
        <mesh filename="../assemblies/right_leg_reorder/meshes/right_2xc430_visual.stl"/>
      </geometry>
      <material name="2xc430_material">
        <color rgba="0.51698661238356047321 0.50347815951093488618 0.49050589017722012741 1.0"/>
      </material>
    </visual>
    <inertial>
      <origin xyz="-0.0120001511339564923 0.00049588831385626367092 0.01850401924450319896" rpy="0 0 0"/>
      <mass value="0.11059999999836234164"/>
      <inertia ixx="2.2818802599017385101e-05" ixy="4.6888548258345894655e-08" ixz="4.6520143289217505514e-08" iyy="3.0871666424467696587e-05" iyz="-5.7477343899723834052e-07" izz="3.0871632082336744173e-05"/>
    </inertial>
  </link>
  <link name="hip_yaw_link_2">
    <visual>
      <origin xyz="0 0 0" rpy="0 -0 0"/>
      <geometry>
        <mesh filename="../assemblies/right_leg_reorder/meshes/right_hip_yaw_link_visual.stl"/>
      </geometry>
      <material name="hip_yaw_link_material">
        <color rgba="0.61568627450980395466 0.81176470588235294379 0.92941176470588238168 1.0"/>
      </material>
    </visual>
    <inertial>
      <origin xyz="-6.1483297531456918442e-18 -0.015800610849654273676 -0.019005670096647751116" rpy="0 0 0"/>
      <mass value="0.013199999999999992989"/>
      <inertia ixx="5.789461597517412337e-06" ixy="0" ixz="0" iyy="5.0110144042848776317e-06" iyz="1.1826010760651176287e-09" izz="2.7344876354814331659e-06"/>
    </inertial>
  </link>
  <link name="spur_gear_21_teeth_2">
    <visual>
      <origin xyz="0 0 0" rpy="0 -0 0"/>
      <geometry>
        <mesh filename="../assemblies/right_leg_reorder/meshes/right_spur_gear_21_teeth_visual.stl"/>
      </geometry>
      <material name="spur_gear_21_teeth_material">
        <color rgba="0.61568627450980395466 0.81176470588235294379 0.9294117647058824927 1.0"/>
      </material>
    </visual>
    <inertial>
      <origin xyz="-4.5505289335411606329e-11 -1.6782167131337769527e-11 -0.00249241020062506086" rpy="0 0 0"/>
      <mass value="0.0022000000000000001325"/>
      <inertia ixx="7.0162310059594196881e-08" ixy="-8.6481724095232400255e-40" ixz="5.9015579823613624977e-39" iyy="7.016231005804746178e-08" iyz="-2.0034010754136097062e-38" izz="1.3125544198538289306e-07"/>
    </inertial>
  </link>
  <link name="right_hip_pitch_link">
    <visual>
      <origin xyz="0 0 0" rpy="0 -0 0"/>
      <geometry>
        <mesh filename="../assemblies/right_leg_reorder/meshes/right_hip_pitch_link_visual.stl"/>
      </geometry>
      <material name="right_hip_pitch_link_material">
        <color rgba="0.81231119922470307326 0.7131158892107314351 0.33680089849959421455 1.0"/>
      </material>
    </visual>
    <collision name="right_hip_pitch_link_collision">
      <origin xyz="0.009275000542402267 -0.004349999129772186 0.05247500166296959" rpy="0 0 0"/>
      <geometry>
        <box size="0.05855000019073486 0.042399998754262924 0.10495000332593918"/>
      </geometry>
    </collision>
    <inertial>
      <origin xyz="0.010187905578010790844 -0.0056188467228509330134 0.038815928333491456215" rpy="0 0 0"/>
      <mass value="0.14548965119785964295"/>
      <inertia ixx="7.094204959486465924e-05" ixy="1.1158758975158450794e-06" ixz="7.6515558781284838565e-06" iyy="8.5157398802913054328e-05" iyz="1.0699337399071725082e-06" izz="4.0945306935231742525e-05"/>
    </inertial>
  </link>
  <link name="spur_gear_18_teeth_2">
    <visual>
      <origin xyz="0 0 0" rpy="0 -0 0"/>
      <geometry>
        <mesh filename="../assemblies/right_leg_reorder/meshes/right_spur_gear_18_teeth_visual.stl"/>
      </geometry>
      <material name="spur_gear_18_teeth_material">
        <color rgba="0.61568627450980395466 0.81176470588235294379 0.92941176470588238168 1.0"/>
      </material>
    </visual>
    <inertial>
      <origin xyz="-1.2350917852414122165e-14 -3.7635296765399104409e-13 0.0017500000000010207044" rpy="0 0 0"/>
      <mass value="0.0011999999999999998949"/>
      <inertia ixx="2.936789981067607588e-08" ixy="0" ixz="1.8125485473072847388e-36" iyy="2.9367899814783318789e-08" iyz="0" izz="5.6306346207859581581e-08"/>
    </inertial>
  </link>
  <joint name="right_hip_yaw_drive" type="revolute">
    <origin xyz="0.019200000000000595063 0.00019999999999990858424 -3.9919456629178284857e-14" rpy="-3.1415926535897487071 -3.3583610398554125797e-13 4.6072104872475000824e-13"/>
    <parent link="right_hip_pitch_link"/>
    <child link="spur_gear_18_teeth_2"/>
    <axis xyz="0 0 1"/>
    <limit effort="1" velocity="20" lower="-1.8325957145940461324" upper="1.8325957145940461324"/>
    <joint_properties friction="0.0"/>
  </joint>
  <link name="right_calf_link">
    <visual>
      <origin xyz="0 0 0" rpy="0 -0 0"/>
      <geometry>
        <mesh filename="../assemblies/right_leg_reorder/meshes/right_calf_link_visual.stl"/>
      </geometry>
      <material name="right_calf_link_material">
        <color rgba="0.61568627450980395466 0.81176470588235294379 0.92941176470588238168 1.0"/>
      </material>
    </visual>
    <inertial>
      <origin xyz="-0.0043450054394400753482 -0.04075298216475804064 0.008711609351475196536" rpy="0 0 0"/>
      <mass value="0.030999999999999992839"/>
      <inertia ixx="3.3069388685437999941e-05" ixy="1.3783307152006436104e-06" ixz="-1.2742534017151547024e-07" iyy="7.7316525337494561228e-06" iyz="7.3356500737960487294e-08" izz="2.8031377754212211627e-05"/>
    </inertial>
  </link>
  <link name="bearing_683_5">
    <visual>
      <origin xyz="0 0 0" rpy="0 -0 0"/>
      <geometry>
        <mesh filename="../assemblies/right_leg_reorder/meshes/right_bearing_683_visual.stl"/>
      </geometry>
      <material name="bearing_683_material">
        <color rgba="0.64705882352941179736 0.64705882352941179736 0.64705882352941179736 1.0"/>
      </material>
    </visual>
    <inertial>
      <origin xyz="2.7862896558581290791e-17 -2.4186774283160221397e-19 -0.0015500000000000003792" rpy="0 0 0"/>
      <mass value="0.00048694686130641793437"/>
      <inertia ixx="2.1551456503319887385e-09" ixy="4.2598306438204978266e-28" ixz="-7.3234829304002240204e-39" iyy="2.1551456503319874977e-09" iyz="-2.4060933654183729714e-40" izz="3.5303647444715305817e-09"/>
    </inertial>
  </link>
  <joint name="right_knee_front_rev_2" type="revolute">
    <origin xyz="0.0057402514854766849284 -0.013858192987668827012 0.02619999999999997331" rpy="3.1415926535897904515 1.1270393647317458615e-14 1.5719696003976120213"/>
    <parent link="right_calf_link"/>
    <child link="bearing_683_5"/>
    <axis xyz="0 0 1"/>
    <limit effort="1" velocity="20"/>
    <joint_properties friction="0.0"/>
  </joint>
  <link name="bearing_683_6">
    <visual>
      <origin xyz="0 0 0" rpy="0 -0 0"/>
      <geometry>
        <mesh filename="../assemblies/right_leg_reorder/meshes/right_bearing_683_2_visual.stl"/>
      </geometry>
      <material name="bearing_683_2_material">
        <color rgba="0.64705882352941179736 0.64705882352941179736 0.64705882352941179736 1.0"/>
      </material>
    </visual>
    <inertial>
      <origin xyz="1.0732094295237784574e-19 -2.4186774283160235841e-19 -0.0015500000000000003792" rpy="0 0 0"/>
      <mass value="0.00048694686130641793437"/>
      <inertia ixx="2.1551456503319887385e-09" ixy="-1.1494962908747497034e-28" ixz="2.265476119271587224e-39" iyy="2.1551456503319891521e-09" iyz="1.489597402795983312e-40" izz="3.5303647444715305817e-09"/>
    </inertial>
  </link>
  <joint name="right_knee_back_rev_2" type="revolute">
    <origin xyz="-0.0057402514854761627766 0.013858192987670853169 0.026199999999999959432" rpy="3.1415926535897886751 4.04667926947700006e-15 1.5695900538857272544"/>
    <parent link="right_calf_link"/>
    <child link="bearing_683_6"/>
    <axis xyz="0 0 1"/>
    <limit effort="1" velocity="20"/>
    <joint_properties friction="0.0"/>
  </joint>
  <link name="right_ank_pitch_link">
    <visual>
      <origin xyz="0 0 0" rpy="0 -0 0"/>
      <geometry>
        <mesh filename="../assemblies/right_leg_reorder/meshes/right_ank_pitch_link_visual.stl"/>
      </geometry>
      <material name="right_ank_pitch_link_material">
        <color rgba="0.70321688500203349825 0.64514870846184457776 0.40484735422826251261 1.0"/>
      </material>
    </visual>
    <collision name="right_ank_pitch_link_collision">
      <origin xyz="-0.01934999879449606 0.012000001966953278 0.016799999633803964" rpy="0 0 0"/>
      <geometry>
        <box size="0.084799999371171 0.04650000482797623 0.046639998117461806"/>
      </geometry>
    </collision>
    <inertial>
      <origin xyz="-0.01777024188954268516 0.012301334508572285553 0.018814514831173675957" rpy="0 0 0"/>
      <mass value="0.1767637669506791076"/>
      <inertia ixx="4.7283381546857748841e-05" ixy="1.3380598207244262923e-06" ixz="6.1532628607417077641e-07" iyy="0.00010706462535917217807" iyz="-5.1080086246370357937e-08" izz="0.00012185522398303814907"/>
    </inertial>
  </link>
  <link name="ank_roll_link_2">
    <visual>
      <origin xyz="0 0 0" rpy="0 -0 0"/>
      <geometry>
        <mesh filename="../assemblies/right_leg_reorder/meshes/right_ank_roll_link_visual.stl"/>
      </geometry>
      <material name="ank_roll_link_material">
        <color rgba="0.61568627450980384364 0.81176470588235283277 0.92941176470588227065 1.0"/>
      </material>
    </visual>
    <collision name="ank_roll_link_2_collision">
      <origin xyz="-0.014500000514090061 0.0 0.038999998942017555" rpy="0 0 0"/>
      <geometry>
        <box size="0.04900000058114529 0.041999999433755875 0.12000000104308128"/>
      </geometry>
    </collision>
    <inertial>
      <origin xyz="-0.02700306651682201492 -2.005733932976729254e-12 0.033764011359896435593" rpy="0 0 0"/>
      <mass value="0.042600000000000012856"/>
      <inertia ixx="3.7284397827464680426e-05" ixy="-5.517453075479433163e-16" ixz="2.392918376808064086e-06" iyy="3.7589276943350409207e-05" iyz="5.0934854972587995505e-12" izz="1.0090430906786784418e-05"/>
    </inertial>
  </link>
  <joint name="right_ank_roll" type="revolute">
    <origin xyz="-0.022749999999990291877 -2.9976021664879226591e-15 0.018999999999999558908" rpy="1.570796326794811959 9.5680781580564777459e-14 1.5707963267948310548"/>
    <parent link="right_ank_pitch_link"/>
    <child link="ank_roll_link_2"/>
    <axis xyz="0 0 1"/>
    <limit effort="1" velocity="20" lower="-1.570796326794896558" upper="1.570796326794896558"/>
    <joint_properties friction="0.0"/>
  </joint>
  <joint name="right_ank_pitch" type="revolute">
    <origin xyz="7.9282998314407210272e-17 -0.10000000000000278111 0.027750000000000038525" rpy="-3.1415926535897851224 8.8042386588788376547e-15 3.1415926535897575889"/>
    <parent link="right_calf_link"/>
    <child link="right_ank_pitch_link"/>
    <axis xyz="0 0 1"/>
    <limit effort="1" velocity="20" lower="-0.785398163397448279" upper="1.7453292519943295336"/>
    <joint_properties friction="0.0"/>
  </joint>
  <joint name="right_knee" type="revolute">
    <origin xyz="4.491391864188864284e-17 -0.0087500000000000043021 0.085950000000000248424" rpy="-1.570796326794896558 -5.5569291725623875623e-17 -4.1442543841061995334e-15"/>
    <parent link="right_hip_pitch_link"/>
    <child link="right_calf_link"/>
    <axis xyz="0 0 1"/>
    <limit effort="1" velocity="20" lower="0" upper="2.0943951023931952626"/>
    <joint_properties friction="0.0"/>
  </joint>
  <link name="xm430_plate_2">
    <visual>
      <origin xyz="0 0 0" rpy="0 -0 0"/>
      <geometry>
        <mesh filename="../assemblies/right_leg_reorder/meshes/right_xm430_plate_visual.stl"/>
      </geometry>
      <material name="xm430_plate_material">
        <color rgba="0.61568627450980395466 0.81176470588235294379 0.92941176470588227065 1.0"/>
      </material>
    </visual>
    <inertial>
      <origin xyz="-9.7261304206861773257e-19 -2.9625680639399983914e-18 0.0025278513919583817798" rpy="0 0 0"/>
      <mass value="0.0026999999999999997093"/>
      <inertia ixx="2.4635091298412534083e-07" ixy="5.8739562556303546978e-08" ixz="1.6488528924539488391e-38" iyy="1.2887178787151819394e-07" iyz="-4.7671642829899821838e-37" izz="3.6467998413810316538e-07"/>
    </inertial>
  </link>
  <link name="knee_rod_3">
    <visual>
      <origin xyz="0 0 0" rpy="0 -0 0"/>
      <geometry>
        <mesh filename="../assemblies/right_leg_reorder/meshes/right_knee_rod_visual.stl"/>
      </geometry>
      <material name="knee_rod_material">
        <color rgba="0.62051618944235198416 0.78640765248647581664 0.88594253031295011613 1.0"/>
      </material>
    </visual>
    <inertial>
      <origin xyz="0.017534288777882725552 4.1145083530046676085e-05 -0.0015987301647632601396" rpy="0 0 0"/>
      <mass value="0.003162946861306418795"/>
      <inertia ixx="2.422520350903731932e-08" ixy="-4.1523452929273176848e-10" ixz="4.9178286424076687208e-10" iyy="8.1758850361951706548e-07" iyz="1.1539930294877956541e-12" izz="8.3704922659328214469e-07"/>
    </inertial>
  </link>
  <joint name="right_knee_front_rev_1" type="revolute">
    <origin xyz="0.0057402514854763518615 -0.013858192987669298857 0.0050000000000000044409" rpy="3.1415926535897922278 -2.0205656421608262662e-14 -1.5696230531921844253"/>
    <parent link="xm430_plate_2"/>
    <child link="knee_rod_3"/>
    <axis xyz="0 0 1"/>
    <limit effort="1" velocity="20"/>
    <joint_properties friction="0.0"/>
  </joint>
  <link name="knee_rod_4">
    <visual>
      <origin xyz="0 0 0" rpy="0 -0 0"/>
      <geometry>
        <mesh filename="../assemblies/right_leg_reorder/meshes/right_knee_rod_2_visual.stl"/>
      </geometry>
      <material name="knee_rod_2_material">
        <color rgba="0.62051618944235198416 0.78640765248647581664 0.88594253031295011613 1.0"/>
      </material>
    </visual>
    <inertial>
      <origin xyz="0.017534287401028952197 -4.230232304207548694e-05 -0.0015987301647633269264" rpy="0 0 0"/>
      <mass value="0.003162946861306418795"/>
      <inertia ixx="2.4225259089665888754e-08" ixy="4.2691331041381926747e-10" ixz="4.9178282562450544184e-10" iyy="8.1758847582921140495e-07" iyz="-1.1864500382085723636e-12" izz="8.3704925438359458149e-07"/>
    </inertial>
  </link>
  <joint name="right_knee_back_rev_1" type="revolute">
    <origin xyz="-0.0057402514854763492594 0.013858192987669271101 0.004999999999999997502" rpy="3.1415926535897922278 -1.388398626480973237e-14 -1.5720025997040691923"/>
    <parent link="xm430_plate_2"/>
    <child link="knee_rod_4"/>
    <axis xyz="0 0 1"/>
    <limit effort="1" velocity="20"/>
    <joint_properties friction="0.0"/>
  </joint>
  <joint name="right_knee_act" type="revolute">
    <origin xyz="-3.4410939121567419255e-17 0.01245000000000000967 0.044500000000000088096" rpy="-1.5707963267949061059 2.6644771186035749771e-15 -1.0609561628018721089e-15"/>
    <parent link="right_hip_pitch_link"/>
    <child link="xm430_plate_2"/>
    <axis xyz="0 0 1"/>
    <limit effort="1" velocity="20" lower="0" upper="2.0943951023931952626"/>
    <joint_properties friction="0.0"/>
  </joint>
  <joint name="right_hip_yaw_driven" type="revolute">
    <origin xyz="-1.204861457474966044e-19 -6.9388939039072283776e-18 -0.0050000000000000113798" rpy="3.141592653589793116 -9.4994925477120343739e-16 4.2299644928409957938e-30"/>
    <parent link="spur_gear_21_teeth_2"/>
    <child link="right_hip_pitch_link"/>
    <axis xyz="0 0 1"/>
    <limit effort="1" velocity="20" lower="-1.570796326794896558" upper="1.570796326794896558"/>
    <joint_properties friction="0.0"/>
  </joint>
  <joint name="right_hip_yaw_fixed" type="fixed">
    <origin xyz="-6.9388939039072283776e-18 -0.027999999999999979766 -0.018999999999999999528" rpy="-1.570796326794896558 1.5707963267948956698 0"/>
    <parent link="hip_yaw_link_2"/>
    <child link="spur_gear_21_teeth_2"/>
    <axis xyz="0 0 1"/>
    <limit effort="1" velocity="20"/>
    <joint_properties friction="0.0"/>
  </joint>
  <joint name="right_hip_roll" type="revolute">
    <origin xyz="-0.024000000716140008905 0.019000000152447762275 0.019000000152447762275" rpy="-1.570796326794896558 -1.5707963267948898967 0"/>
    <parent link="2xc430_2"/>
    <child link="hip_yaw_link_2"/>
    <axis xyz="0 0 1"/>
    <limit effort="1" velocity="20" lower="-0.785398163397448279" upper="0.785398163397448279"/>
    <joint_properties friction="0.0"/>
  </joint>
  <link name="sho_pitch_link">
    <visual>
      <origin xyz="0 0 0" rpy="0 -0 0"/>
      <geometry>
        <mesh filename="../assemblies/left_arm_umi/meshes/left_sho_pitch_link_visual.stl"/>
      </geometry>
      <material name="sho_pitch_link_material">
        <color rgba="0.61568627450980395466 0.81176470588235294379 0.92941176470588227065 1.0"/>
      </material>
    </visual>
    <inertial>
      <origin xyz="-1.025903438159899119e-18 -2.1966078074444220184e-18 0.012913250798677602602" rpy="0 0 0"/>
      <mass value="0.0085999999999999982708"/>
      <inertia ixx="1.8365636406635814379e-06" ixy="0" ixz="0" iyy="4.0110869076839152165e-06" iyz="0" izz="3.5160516450492493809e-06"/>
    </inertial>
  </link>
  <link name="2xl430_gears">
    <visual>
      <origin xyz="0 0 0" rpy="0 -0 0"/>
      <geometry>
        <mesh filename="../assemblies/left_arm_umi/meshes/left_2xl430_gears_visual.stl"/>
      </geometry>
      <material name="2xl430_gears_material">
        <color rgba="0.75914767920569214965 0.85560384745670925444 0.90519468321360607721 1.0"/>
      </material>
    </visual>
    <collision name="2xl430_gears_collision">
      <origin xyz="-0.011708511453562324 -0.002663695648909637 -0.019869671274007784" rpy="0 0 0"/>
      <geometry>
        <sphere radius="0.031174628050041002"/>
      </geometry>
    </collision>
    <inertial>
      <origin xyz="-0.011592905737980642444 -0.0024238553642583816373 -0.018551095523802015735" rpy="0 0 0"/>
      <mass value="0.11800003674524911501"/>
      <inertia ixx="2.7511021050428206944e-05" ixy="9.0043904315036704004e-07" ixz="-2.3349710124172453411e-08" iyy="3.2796197843345624423e-05" iyz="-6.5715119654599577247e-07" izz="3.5775739835744996948e-05"/>
    </inertial>
  </link>
  <link name="spur_1m_24t_drive">
    <visual>
      <origin xyz="0 0 0" rpy="0 -0 0"/>
      <geometry>
        <mesh filename="../assemblies/left_arm_umi/meshes/left_spur_1m_24t_drive_visual.stl"/>
      </geometry>
      <material name="spur_1m_24t_drive_material">
        <color rgba="0.61568627450980395466 0.81176470588235294379 0.92941176470588238168 1.0"/>
      </material>
    </visual>
    <inertial>
      <origin xyz="3.0395421551447426547e-15 -3.3912620813973872492e-16 0.0048096451474093065287" rpy="0 0 0"/>
      <mass value="0.0031999999999999997197"/>
      <inertia ixx="1.4097598887016953379e-07" ixy="1.5562823114943523235e-15" ixz="7.4273784759770902112e-37" iyy="1.4097598803635996198e-07" iyz="7.8038995636436382948e-37" izz="2.4107776386988835496e-07"/>
    </inertial>
  </link>
  <joint name="left_sho_yaw_drive" type="revolute">
    <origin xyz="-0.024000000716142534662 -0.019000000152456227726 -0.019000000152442717699" rpy="1.5707963267945506125 -5.5729871745090160275e-14 6.2805146429461445464e-14"/>
    <parent link="2xl430_gears"/>
    <child link="spur_1m_24t_drive"/>
    <axis xyz="0 0 1"/>
    <limit effort="1" velocity="20" lower="-2.6179938779914944114" upper="2.6179938779914944114"/>
    <joint_properties friction="0.0"/>
  </joint>
  <link name="spur_1m_24t_driven">
    <visual>
      <origin xyz="0 0 0" rpy="0 -0 0"/>
      <geometry>
        <mesh filename="../assemblies/left_arm_umi/meshes/left_spur_1m_24t_driven_visual.stl"/>
      </geometry>
      <material name="spur_1m_24t_driven_material">
        <color rgba="0.23137254901960788156 0.38039215686274502337 0.7058823529411765163 1.0"/>
      </material>
    </visual>
    <inertial>
      <origin xyz="-2.6903043908340867984e-18 -1.688384205958136519e-15 -0.00097237500038395777158" rpy="0 0 0"/>
      <mass value="0.0026999999999999997093"/>
      <inertia ixx="1.2202334915684080498e-07" ixy="1.3837295890494949211e-37" ixz="-1.0447421496749939075e-36" iyy="1.2202334915684064616e-07" iyz="3.3220397498769138301e-37" izz="2.3180293204341252239e-07"/>
    </inertial>
  </link>
  <link name="sho_yaw_link">
    <visual>
      <origin xyz="0 0 0" rpy="0 -0 0"/>
      <geometry>
        <mesh filename="../assemblies/left_arm_umi/meshes/left_sho_yaw_link_visual.stl"/>
      </geometry>
      <material name="sho_yaw_link_material">
        <color rgba="0.61568627450980395466 0.81176470588235294379 0.92941176470588238168 1.0"/>
      </material>
    </visual>
    <inertial>
      <origin xyz="-4.7730210054629770351e-18 2.6069328434163573568e-18 -0.024649285094360089132" rpy="0 0 0"/>
      <mass value="0.014500000000000007674"/>
      <inertia ixx="9.2365904614004439553e-06" ixy="3.5862833440690451918e-13" ixz="-8.2397007242855601464e-43" iyy="5.8163826335078791714e-06" iyz="-5.4352775587714288989e-35" izz="4.5074356741562122031e-06"/>
    </inertial>
  </link>
  <link name="2xl430_gears_2">
    <visual>
      <origin xyz="0 0 0" rpy="0 -0 0"/>
      <geometry>
        <mesh filename="../assemblies/left_arm_umi/meshes/left_2xl430_gears_2_visual.stl"/>
      </geometry>
      <material name="2xl430_gears_2_material">
        <color rgba="0.75914767920569214965 0.85560384745670925444 0.90519468321360607721 1.0"/>
      </material>
    </visual>
    <collision name="2xl430_gears_2_collision">
      <origin xyz="-0.011708511453562392 -0.002663695648909657 -0.019869671274007874" rpy="0 0 0"/>
      <geometry>
        <sphere radius="0.031174628050041016"/>
      </geometry>
    </collision>
    <inertial>
      <origin xyz="-0.011592905737981091738 -0.0024238553642542742458 -0.018551095523813909" rpy="0 0 0"/>
      <mass value="0.11800003674524911501"/>
      <inertia ixx="2.751102105042832214e-05" ixy="9.0043904315329650349e-07" ixz="-2.3349710125436329138e-08" iyy="3.2796197843348145193e-05" iyz="-6.5715119655126410565e-07" izz="3.5775739835745051158e-05"/>
    </inertial>
  </link>
  <link name="spur_1m_24t_drive_2">
    <visual>
      <origin xyz="0 0 0" rpy="0 -0 0"/>
      <geometry>
        <mesh filename="../assemblies/left_arm_umi/meshes/left_spur_1m_24t_drive_2_visual.stl"/>
      </geometry>
      <material name="spur_1m_24t_drive_2_material">
        <color rgba="0.61568627450980395466 0.81176470588235294379 0.92941176470588238168 1.0"/>
      </material>
    </visual>
    <inertial>
      <origin xyz="3.0395421551447426547e-15 -3.3912620811388947869e-16 0.0048096451474092995898" rpy="0 0 0"/>
      <mass value="0.0031999999999999997197"/>
      <inertia ixx="1.4097598887016953379e-07" ixy="1.5562823102285579479e-15" ixz="2.9661020669666376683e-36" iyy="1.4097598803635998845e-07" iyz="9.1368612700525381613e-36" izz="2.4107776386988835496e-07"/>
    </inertial>
  </link>
  <joint name="left_elbow_yaw_drive" type="revolute">
    <origin xyz="-0.024000000716140806878 -0.019000000152450138846 -0.01900000015246447807" rpy="1.5707963267949478503 -2.5802640142449200815e-13 5.2180482157376444099e-14"/>
    <parent link="2xl430_gears_2"/>
    <child link="spur_1m_24t_drive_2"/>
    <axis xyz="0 0 1"/>
    <limit effort="1" velocity="20" lower="-2.6179938779914944114" upper="2.6179938779914944114"/>
    <joint_properties friction="0.0"/>
  </joint>
  <link name="spur_1m_24t_driven_2">
    <visual>
      <origin xyz="0 0 0" rpy="0 -0 0"/>
      <geometry>
        <mesh filename="../assemblies/left_arm_umi/meshes/left_spur_1m_24t_driven_2_visual.stl"/>
      </geometry>
      <material name="spur_1m_24t_driven_2_material">
        <color rgba="0.23137254901960788156 0.38039215686274502337 0.7058823529411765163 1.0"/>
      </material>
    </visual>
    <inertial>
      <origin xyz="-2.6903043908350131707e-18 -1.685153565132015999e-15 -0.00097237500038395083268" rpy="0 0 0"/>
      <mass value="0.0026999999999999997093"/>
      <inertia ixx="1.2202334915684080498e-07" ixy="-5.3426136268858280334e-65" ixz="-2.7609150325300431337e-36" iyy="1.2202334915684064616e-07" iyz="5.8515286657488347587e-36" izz="2.3180293204341252239e-07"/>
    </inertial>
  </link>
  <link name="elb_yaw_link">
    <visual>
      <origin xyz="0 0 0" rpy="0 -0 0"/>
      <geometry>
        <mesh filename="../assemblies/left_arm_umi/meshes/left_elb_yaw_link_visual.stl"/>
      </geometry>
      <material name="elb_yaw_link_material">
        <color rgba="0.61568627450980395466 0.81176470588235294379 0.92941176470588227065 1.0"/>
      </material>
    </visual>
    <inertial>
      <origin xyz="5.3127688027774929136e-08 0.0019833638641961618201 -0.023416643551549959357" rpy="0 0 0"/>
      <mass value="0.017500000000000005135"/>
      <inertia ixx="1.4134344903109199776e-05" ixy="1.6945783922006120707e-12" ixz="-1.1286398721833143996e-11" iyy="6.6435900776211374285e-06" iyz="1.0545227077253055462e-06" izz="8.9925290757999027595e-06"/>
    </inertial>
  </link>
  <link name="spur_1m_24t_driven_3">
    <visual>
      <origin xyz="0 0 0" rpy="0 -0 0"/>
      <geometry>
        <mesh filename="../assemblies/left_arm_umi/meshes/left_spur_1m_24t_driven_3_visual.stl"/>
      </geometry>
      <material name="spur_1m_24t_driven_3_material">
        <color rgba="0.23137254901960788156 0.38039215686274502337 0.7058823529411765163 1.0"/>
      </material>
    </visual>
    <inertial>
      <origin xyz="-2.6903043908334539378e-18 -1.6883842059581396744e-15 -0.0025723750003839550293" rpy="0 0 0"/>
      <mass value="0.0026999999999999997093"/>
      <inertia ixx="1.2202334915684080498e-07" ixy="1.650838217124924475e-37" ixz="5.8515286657488347587e-36" iyy="1.2202334915684064616e-07" iyz="0" izz="2.3180293204341252239e-07"/>
    </inertial>
  </link>
  <link name="2xl430_gears_3">
    <visual>
      <origin xyz="0 0 0" rpy="0 -0 0"/>
      <geometry>
        <mesh filename="../assemblies/left_arm_umi/meshes/left_2xl430_gears_3_visual.stl"/>
      </geometry>
      <material name="2xl430_gears_3_material">
        <color rgba="0.75914767920569214965 0.85560384745670925444 0.90519468321360607721 1.0"/>
      </material>
    </visual>
    <collision name="2xl430_gears_3_collision">
      <origin xyz="-0.0008536254376339707 0.011718714468016044 -0.02433707854457951" rpy="0 0 0"/>
      <geometry>
        <sphere radius="0.031160574725534955"/>
      </geometry>
    </collision>
    <inertial>
      <origin xyz="0.00044890447619909743101 0.011592905379898219356 -0.024576144788197168412" rpy="0 0 0"/>
      <mass value="0.11800003674524911501"/>
      <inertia ixx="3.5775739835742089931e-05" ixy="2.3349710123834755271e-08" ixz="6.5715119654965728415e-07" iyy="2.7511021050427807144e-05" iyz="9.0043904315220340747e-07" izz="3.2796197843345726067e-05"/>
    </inertial>
  </link>
  <link name="spur_1m_24t_drive_3">
    <visual>
      <origin xyz="0 0 0" rpy="0 -0 0"/>
      <geometry>
        <mesh filename="../assemblies/left_arm_umi/meshes/left_spur_1m_24t_drive_3_visual.stl"/>
      </geometry>
      <material name="spur_1m_24t_drive_3_material">
        <color rgba="0.61568627450980395466 0.81176470588235294379 0.92941176470588238168 1.0"/>
      </material>
    </visual>
    <inertial>
      <origin xyz="3.0326032612408350319e-15 -3.3912620811388928147e-16 0.0048096451474093030592" rpy="0 0 0"/>
      <mass value="0.0031999999999999997197"/>
      <inertia ixx="1.4097598887016953379e-07" ixy="1.5562823135372803981e-15" ixz="1.2722418906858421266e-35" iyy="1.4097598803635998845e-07" iyz="4.1397718535750480265e-37" izz="2.4107776386988835496e-07"/>
    </inertial>
  </link>
  <joint name="left_wrist_pitch_drive" type="revolute">
    <origin xyz="-1.5244492967147879128e-10 0.024000000358059658812 -0.0080000000000056449567" rpy="-3.0533404903795228175e-14 -1.7699329119283895979e-13 -1.5707963267949680564"/>
    <parent link="2xl430_gears_3"/>
    <child link="spur_1m_24t_drive_3"/>
    <axis xyz="0 0 1"/>
    <limit effort="1" velocity="20" lower="-1.9198621771937625091" upper="1.3962634015954635824"/>
    <joint_properties friction="0.0"/>
  </joint>
  <link name="hand">
    <visual>
      <origin xyz="0 0 0" rpy="0 -0 0"/>
      <geometry>
        <mesh filename="../assemblies/left_arm_umi/meshes/left_hand_visual.stl"/>
      </geometry>
      <material name="hand_material">
        <color rgba="0.6414991312980887761 0.67624720774385704836 0.69709605361131787848 1.0"/>
      </material>
    </visual>
    <collision name="hand_collision">
      <origin xyz="0.0044999998062849045 -0.023250000085681677 -0.019000000320374966" rpy="0 0 0"/>
      <geometry>
        <box size="0.05000000074505806 0.06749999988824129 0.07400000281631947"/>
      </geometry>
    </collision>
    <inertial>
      <origin xyz="0.0037132560743682414481 -0.042135580180293757957 -0.019513129422372377242" rpy="0 0 0"/>
      <mass value="0.039500000000000000389"/>
      <inertia ixx="2.4655505305535776886e-05" ixy="6.2292690516533964304e-07" ixz="1.3905202790272152079e-08" iyy="2.5499495709674505013e-05" iyz="-4.0482284361498457642e-08" izz="1.3476712281039049114e-05"/>
    </inertial>
  </link>
  <joint name="left_wrist_roll" type="revolute">
    <origin xyz="0.019000000000009276829 -3.5808436771311846769e-10 -0.027000000152447547336" rpy="1.2196020852255911422e-29 1.5707963267946087882 0"/>
    <parent link="2xl430_gears_3"/>
    <child link="hand"/>
    <axis xyz="0 0 1"/>
    <limit effort="1" velocity="20" lower="-1.9198621771937625091" upper="1.3962634015954635824"/>
    <joint_properties friction="0.0"/>
  </joint>
  <link name="wrist_bearing_plate">
    <visual>
      <origin xyz="0 0 0" rpy="0 -0 0"/>
      <geometry>
        <mesh filename="../assemblies/left_arm_umi/meshes/left_wrist_bearing_plate_visual.stl"/>
      </geometry>
      <material name="wrist_bearing_plate_material">
        <color rgba="0.71932243125689054875 0.63128434304969727187 0.52422389360984933404 1.0"/>
      </material>
    </visual>
    <inertial>
      <origin xyz="-0.0075835583121499931455 -0.015499999999999977338 -0.0018386323705903331437" rpy="0 0 0"/>
      <mass value="0.0049000367468305557062"/>
      <inertia ixx="4.970743010915013972e-07" ixy="1.1194558104431275937e-22" ixz="1.8100904820813988926e-08" iyy="7.1268523603538489532e-07" iyz="1.6072883979218723091e-23" izz="1.1919657811600100764e-06"/>
    </inertial>
  </link>
  <joint name="left_wrist_pitch_fixed" type="fixed">
    <origin xyz="0.015500000000005004566 -1.8207657603852567263e-14 -0.044999999999998596678" rpy="4.0494715863782802008e-14 -2.8209346585231002385e-13 -1.570796326794906328"/>
    <parent link="2xl430_gears_3"/>
    <child link="wrist_bearing_plate"/>
    <axis xyz="0 0 1"/>
    <limit effort="1" velocity="20"/>
    <joint_properties friction="0.0"/>
  </joint>
  <joint name="left_wrist_pitch_driven" type="revolute">
    <origin xyz="0 -3.9443045261050590271e-30 -0.0015999999999999972577" rpy="6.0387003530043805309e-16 -4.4981039962148287683e-16 -1.570796326794896558"/>
    <parent link="spur_1m_24t_driven_3"/>
    <child link="2xl430_gears_3"/>
    <axis xyz="0 0 1"/>
    <limit effort="1" velocity="20" lower="-1.3962634015954635824" upper="1.9198621771937625091"/>
    <joint_properties friction="0.0"/>
  </joint>
  <joint name="left_wrist_roll_fixed" type="fixed">
    <origin xyz="1.5777218104420236108e-30 -0.025300000000000006511 -0.05200000000000001843" rpy="1.5707963267949043296 -1.5707963267948885644 0"/>
    <parent link="elb_yaw_link"/>
    <child link="spur_1m_24t_driven_3"/>
    <axis xyz="0 0 1"/>
    <limit effort="1" velocity="20"/>
    <joint_properties friction="0.0"/>
  </joint>
  <joint name="left_elbow_yaw_fixed" type="fixed">
    <origin xyz="-1.5777218104420236108e-30 0 0.0016000000000000041966" rpy="-3.1415926535897873428 3.0591810185765374017e-29 0"/>
    <parent link="spur_1m_24t_driven_2"/>
    <child link="elb_yaw_link"/>
    <axis xyz="0 0 1"/>
    <limit effort="1" velocity="20"/>
    <joint_properties friction="0.0"/>
  </joint>
  <joint name="left_elbow_yaw_driven" type="revolute">
    <origin xyz="-3.5806251019732115992e-10 -0.027000000152458583647 -0.019000000000009956841" rpy="1.5707963267948450437 1.5707963267948292785 0"/>
    <parent link="2xl430_gears_2"/>
    <child link="spur_1m_24t_driven_2"/>
    <axis xyz="0 0 1"/>
    <limit effort="1" velocity="20" lower="-2.6179938779914944114" upper="2.6179938779914944114"/>
    <joint_properties friction="0.0"/>
  </joint>
  <joint name="left_elbow_roll" type="revolute">
    <origin xyz="-3.4694469519536141888e-18 -0.018999999999999999528 -0.059000000000000024647" rpy="1.570796326794896336 -5.3290705182069808708e-14 -2.456539448233997185e-14"/>
    <parent link="sho_yaw_link"/>
    <child link="2xl430_gears_2"/>
    <axis xyz="0 0 1"/>
    <limit effort="1" velocity="20" lower="-1.9198621771937625091" upper="2.4434609527920612138"/>
    <joint_properties friction="0.0"/>
  </joint>
  <joint name="left_sho_yaw_fixed" type="fixed">
    <origin xyz="3.4694469519536141888e-18 -9.8607613152626475676e-31 0.0015999999999999972577" rpy="3.141592653589793116 1.2621774483536197294e-29 4.7331654313260743357e-30"/>
    <parent link="spur_1m_24t_driven"/>
    <child link="sho_yaw_link"/>
    <axis xyz="0 0 1"/>
    <limit effort="1" velocity="20"/>
    <joint_properties friction="0.0"/>
  </joint>
  <joint name="left_sho_yaw_driven" type="revolute">
    <origin xyz="-3.5807158627054747058e-10 -0.02700000015245348009 -0.018999999999996589062" rpy="1.5707963267947120389 -1.3118271136488182808e-14 9.2981178312429448086e-14"/>
    <parent link="2xl430_gears"/>
    <child link="spur_1m_24t_driven"/>
    <axis xyz="0 0 1"/>
    <limit effort="1" velocity="20" lower="-2.6179938779914944114" upper="2.6179938779914944114"/>
    <joint_properties friction="0.0"/>
  </joint>
  <joint name="left_sho_roll" type="revolute">
    <origin xyz="-0.019000000000000016875 1.4231671397091401999e-17 0.027000000000000023981" rpy="-3.141592653589793116 1.5707963267948372721 0"/>
    <parent link="sho_pitch_link"/>
    <child link="2xl430_gears"/>
    <axis xyz="0 0 1"/>
    <limit effort="1" velocity="20" lower="-1.570796326794896558" upper="0.34906585039886589561"/>
    <joint_properties friction="0.0"/>
  </joint>
  <link name="sho_pitch_link_2">
    <visual>
      <origin xyz="0 0 0" rpy="0 -0 0"/>
      <geometry>
        <mesh filename="../assemblies/right_arm_umi/meshes/right_sho_pitch_link_visual.stl"/>
      </geometry>
      <material name="sho_pitch_link_material">
        <color rgba="0.61568627450980395466 0.81176470588235294379 0.92941176470588227065 1.0"/>
      </material>
    </visual>
    <inertial>
      <origin xyz="-1.025903438159899119e-18 -2.1966078074444289517e-18 0.012913250798677602602" rpy="0 0 0"/>
      <mass value="0.0085999999999999982708"/>
      <inertia ixx="1.8365636406635814379e-06" ixy="2.7052466620977967735e-97" ixz="-6.0867229013657688598e-136" iyy="4.0110869076839152165e-06" iyz="-1.6935833339184753197e-44" izz="3.5160516450492493809e-06"/>
    </inertial>
  </link>
  <link name="2xl430_gears_4">
    <visual>
      <origin xyz="0 0 0" rpy="0 -0 0"/>
      <geometry>
        <mesh filename="../assemblies/right_arm_umi/meshes/right_2xl430_gears_visual.stl"/>
      </geometry>
      <material name="2xl430_gears_material">
        <color rgba="0.75914767920569214965 0.85560384745670925444 0.90519468321360607721 1.0"/>
      </material>
    </visual>
    <collision name="2xl430_gears_4_collision">
      <origin xyz="-0.01170851145356234 -0.002663695648909648 -0.019869671274007784" rpy="0 0 0"/>
      <geometry>
        <sphere radius="0.031174628050041002"/>
      </geometry>
    </collision>
    <inertial>
      <origin xyz="-0.011592905737978696085 -0.0024238553642522840843 -0.018551095523803726173" rpy="0 0 0"/>
      <mass value="0.11800003674524911501"/>
      <inertia ixx="2.7511021050424646017e-05" ixy="9.0043904315135573925e-07" ixz="-2.3349710123960218718e-08" iyy="3.2796197843346207182e-05" iyz="-6.5715119654693386146e-07" izz="3.5775739835740998952e-05"/>
    </inertial>
  </link>
  <link name="spur_1m_24t_drive_4">
    <visual>
      <origin xyz="0 0 0" rpy="0 -0 0"/>
      <geometry>
        <mesh filename="../assemblies/right_arm_umi/meshes/right_spur_1m_24t_drive_visual.stl"/>
      </geometry>
      <material name="spur_1m_24t_drive_material">
        <color rgba="0.61568627450980395466 0.81176470588235294379 0.92941176470588238168 1.0"/>
      </material>
    </visual>
    <inertial>
      <origin xyz="3.0326032612408354263e-15 -3.3912620811388938008e-16 0.0048096451474093030592" rpy="0 0 0"/>
      <mass value="0.0031999999999999997197"/>
      <inertia ixx="1.4097598887016958673e-07" ixy="1.556282310200251252e-15" ixz="3.9554371954665940773e-37" iyy="1.4097598803635998845e-07" iyz="-1.3068306635892902166e-36" izz="2.4107776386988835496e-07"/>
    </inertial>
  </link>
  <joint name="right_sho_yaw_drive" type="revolute">
    <origin xyz="-0.024000000716138267243 -0.019000000152445337132 -0.019000000152448424939" rpy="1.5707963267949289765 -7.4062049324254792929e-14 1.9645226351351914911e-14"/>
    <parent link="2xl430_gears_4"/>
    <child link="spur_1m_24t_drive_4"/>
    <axis xyz="0 0 1"/>
    <limit effort="1" velocity="20" lower="-2.6179938779914944114" upper="2.6179938779914944114"/>
    <joint_properties friction="0.0"/>
  </joint>
  <link name="spur_1m_24t_driven_4">
    <visual>
      <origin xyz="0 0 0" rpy="0 -0 0"/>
      <geometry>
        <mesh filename="../assemblies/right_arm_umi/meshes/right_spur_1m_24t_driven_visual.stl"/>
      </geometry>
      <material name="spur_1m_24t_driven_material">
        <color rgba="0.23137254901960788156 0.38039215686274502337 0.7058823529411765163 1.0"/>
      </material>
    </visual>
    <inertial>
      <origin xyz="-2.690304390834019776e-18 -1.6883842059581361246e-15 -0.00097237500038395777158" rpy="0 0 0"/>
      <mass value="0.0026999999999999997093"/>
      <inertia ixx="1.2202334915684080498e-07" ixy="0" ixz="0" iyy="1.2202334915684064616e-07" iyz="-3.1611202962161956801e-37" izz="2.3180293204341252239e-07"/>
    </inertial>
  </link>
  <link name="sho_yaw_link_2">
    <visual>
      <origin xyz="0 0 0" rpy="0 -0 0"/>
      <geometry>
        <mesh filename="../assemblies/right_arm_umi/meshes/right_sho_yaw_link_visual.stl"/>
      </geometry>
      <material name="sho_yaw_link_material">
        <color rgba="0.61568627450980395466 0.81176470588235294379 0.92941176470588238168 1.0"/>
      </material>
    </visual>
    <inertial>
      <origin xyz="-1.3035740535093626537e-18 2.6069328434162263936e-18 -0.024649285094360089132" rpy="0 0 0"/>
      <mass value="0.014500000000000007674"/>
      <inertia ixx="9.2365904614004439553e-06" ixy="3.5862833440690451918e-13" ixz="3.9137616104652588598e-44" iyy="5.8163826335078791714e-06" iyz="-5.7710285861749289932e-36" izz="4.5074356741562122031e-06"/>
    </inertial>
  </link>
  <link name="2xl430_gears_5">
    <visual>
      <origin xyz="0 0 0" rpy="0 -0 0"/>
      <geometry>
        <mesh filename="../assemblies/right_arm_umi/meshes/right_2xl430_gears_2_visual.stl"/>
      </geometry>
      <material name="2xl430_gears_2_material">
        <color rgba="0.75914767920569214965 0.85560384745670925444 0.90519468321360607721 1.0"/>
      </material>
    </visual>
    <collision name="2xl430_gears_5_collision">
      <origin xyz="-0.011708886637741642 -0.002663752496014671 -0.019869324751325072" rpy="0 0 0"/>
      <geometry>
        <sphere radius="0.031174264351886416"/>
      </geometry>
    </collision>
    <inertial>
      <origin xyz="-0.011592905737984599349 -0.0024238553642520702797 -0.018551095523805894577" rpy="0 0 0"/>
      <mass value="0.11800003674524911501"/>
      <inertia ixx="2.7511021050426058868e-05" ixy="9.0043904315050701224e-07" ixz="-2.3349710123665345373e-08" iyy="3.2796197843347223622e-05" iyz="-6.5715119654724493431e-07" izz="3.5775739835742266114e-05"/>
    </inertial>
  </link>
  <link name="spur_1m_24t_drive_5">
    <visual>
      <origin xyz="0 0 0" rpy="0 -0 0"/>
      <geometry>
        <mesh filename="../assemblies/right_arm_umi/meshes/right_spur_1m_24t_drive_2_visual.stl"/>
      </geometry>
      <material name="spur_1m_24t_drive_2_material">
        <color rgba="0.61568627450980395466 0.81176470588235294379 0.92941176470588238168 1.0"/>
      </material>
    </visual>
    <inertial>
      <origin xyz="3.0326032612408362152e-15 -3.3912620813973872492e-16 0.0048096451474092995898" rpy="0 0 0"/>
      <mass value="0.0031999999999999997197"/>
      <inertia ixx="1.409759888701696132e-07" ixy="1.556282310200251252e-15" ixz="4.338399461542561307e-37" iyy="1.4097598803635998845e-07" iyz="-1.6678098941986840071e-37" izz="2.4107776386988835496e-07"/>
    </inertial>
  </link>
  <joint name="right_elbow_yaw_drive" type="revolute">
    <origin xyz="-0.024000000716147169844 -0.019000000152450874369 -0.019000000152450294971" rpy="1.5707963267949571762 3.0057922366849630622e-14 -3.9474149714292987702e-14"/>
    <parent link="2xl430_gears_5"/>
    <child link="spur_1m_24t_drive_5"/>
    <axis xyz="0 0 1"/>
    <limit effort="1" velocity="20" lower="-2.6179938779914944114" upper="2.6179938779914944114"/>
    <joint_properties friction="0.0"/>
  </joint>
  <link name="spur_1m_24t_driven_5">
    <visual>
      <origin xyz="0 0 0" rpy="0 -0 0"/>
      <geometry>
        <mesh filename="../assemblies/right_arm_umi/meshes/right_spur_1m_24t_driven_2_visual.stl"/>
      </geometry>
      <material name="spur_1m_24t_driven_2_material">
        <color rgba="0.23137254901960788156 0.38039215686274502337 0.7058823529411765163 1.0"/>
      </material>
    </visual>
    <inertial>
      <origin xyz="7.7914256111959441279e-19 -1.6883842059581375051e-15 -0.00097237500038395083268" rpy="0 0 0"/>
      <mass value="0.0026999999999999997093"/>
      <inertia ixx="1.2202334915684080498e-07" ixy="3.8503779869585959908e-37" ixz="-5.0252529353177568274e-67" iyy="1.2202334915684064616e-07" iyz="-1.5292377512497484237e-36" izz="2.3180293204341252239e-07"/>
    </inertial>
  </link>
  <link name="elb_yaw_link_2">
    <visual>
      <origin xyz="0 0 0" rpy="0 -0 0"/>
      <geometry>
        <mesh filename="../assemblies/right_arm_umi/meshes/right_elb_yaw_link_visual.stl"/>
      </geometry>
      <material name="elb_yaw_link_material">
        <color rgba="0.61568627450980395466 0.81176470588235294379 0.92941176470588227065 1.0"/>
      </material>
    </visual>
    <inertial>
      <origin xyz="5.3127688027774929136e-08 0.0019833638641961613865 -0.023416643551549952418" rpy="0 0 0"/>
      <mass value="0.017500000000000005135"/>
      <inertia ixx="1.4134344903109199776e-05" ixy="1.6945783922006116668e-12" ixz="-1.1286398721833140765e-11" iyy="6.6435900776211340404e-06" iyz="1.0545227077253051227e-06" izz="8.9925290757998993713e-06"/>
    </inertial>
  </link>
  <link name="spur_1m_24t_driven_6">
    <visual>
      <origin xyz="0 0 0" rpy="0 -0 0"/>
      <geometry>
        <mesh filename="../assemblies/right_arm_umi/meshes/right_spur_1m_24t_driven_3_visual.stl"/>
      </geometry>
      <material name="spur_1m_24t_driven_3_material">
        <color rgba="0.23137254901960788156 0.38039215686274502337 0.7058823529411765163 1.0"/>
      </material>
    </visual>
    <inertial>
      <origin xyz="2.5065271224794893349e-17 -1.6883842059581341524e-15 -0.0025723750003839550293" rpy="0 0 0"/>
      <mass value="0.0026999999999999997093"/>
      <inertia ixx="1.2202334915684080498e-07" ixy="1.2024235126300529745e-36" ixz="-1.9251889934793005011e-37" iyy="1.2202334915684064616e-07" iyz="-6.5691309546560350094e-67" izz="2.3180293204341252239e-07"/>
    </inertial>
  </link>
  <link name="2xl430_gears_6">
    <visual>
      <origin xyz="0 0 0" rpy="0 -0 0"/>
      <geometry>
        <mesh filename="../assemblies/right_arm_umi/meshes/right_2xl430_gears_3_visual.stl"/>
      </geometry>
      <material name="2xl430_gears_3_material">
        <color rgba="0.75914767920569214965 0.85560384745670925444 0.90519468321360607721 1.0"/>
      </material>
    </visual>
    <collision name="2xl430_gears_6_collision">
      <origin xyz="-0.0008536254376340004 0.01171871446801601 -0.024337078544579577" rpy="0 0 0"/>
      <geometry>
        <sphere radius="0.031160574725534955"/>
      </geometry>
    </collision>
    <inertial>
      <origin xyz="0.00044890447620015019132 0.011592905379911784894 -0.024576144788197196167" rpy="0 0 0"/>
      <mass value="0.11800003674524911501"/>
      <inertia ixx="3.5775739835742767557e-05" ixy="2.3349710123598476092e-08" ixz="6.5715119654677461927e-07" iyy="2.7511021050425875909e-05" iyz="9.0043904315183473638e-07" izz="3.2796197843346695073e-05"/>
    </inertial>
  </link>
  <link name="spur_1m_24t_drive_6">
    <visual>
      <origin xyz="0 0 0" rpy="0 -0 0"/>
      <geometry>
        <mesh filename="../assemblies/right_arm_umi/meshes/right_spur_1m_24t_drive_3_visual.stl"/>
      </geometry>
      <material name="spur_1m_24t_drive_3_material">
        <color rgba="0.61568627450980395466 0.81176470588235294379 0.92941176470588238168 1.0"/>
      </material>
    </visual>
    <inertial>
      <origin xyz="3.0326032612408354263e-15 -3.3912620813973872492e-16 0.0048096451474093030592" rpy="0 0 0"/>
      <mass value="0.0031999999999999997197"/>
      <inertia ixx="1.4097598887016958673e-07" ixy="1.556282310200251252e-15" ixz="2.126004267201905483e-36" iyy="1.4097598803635998845e-07" iyz="9.9024180490680084723e-38" izz="2.4107776386988835496e-07"/>
    </inertial>
  </link>
  <joint name="right_wrist_pitch_drive" type="revolute">
    <origin xyz="-1.5244312511681577095e-10 0.024000000358071760242 -0.0080000000000008727324" rpy="1.2483159056391235944e-14 7.3485321852726251993e-14 -1.5707963267948601427"/>
    <parent link="2xl430_gears_6"/>
    <child link="spur_1m_24t_drive_6"/>
    <axis xyz="0 0 1"/>
    <limit effort="1" velocity="20" lower="-1.3962634015954635824" upper="1.9198621771937625091"/>
    <joint_properties friction="0.0"/>
  </joint>
  <link name="hand_2">
    <visual>
      <origin xyz="0 0 0" rpy="0 -0 0"/>
      <geometry>
        <mesh filename="../assemblies/right_arm_umi/meshes/right_hand_visual.stl"/>
      </geometry>
      <material name="hand_material">
        <color rgba="0.64149913129808888712 0.67624720774385704836 0.69709605361131798951 1.0"/>
      </material>
    </visual>
    <collision name="hand_2_collision">
      <origin xyz="0.0044999998062849045 -0.023250000085681677 -0.019000000320374966" rpy="0 0 0"/>
      <geometry>
        <box size="0.05000000074505806 0.06749999988824129 0.07400000281631947"/>
      </geometry>
    </collision>
    <inertial>
      <origin xyz="0.0037132560777026289017 -0.042135580180293688568 -0.018486870577627653039" rpy="0 0 0"/>
      <mass value="0.039499999999999986511"/>
      <inertia ixx="2.4655505305535363534e-05" ixy="6.2292690365591920186e-07" ixz="-1.3905201231125071739e-08" iyy="2.5499495708696273439e-05" iyz="4.048228436147507821e-08" izz="1.3476712280060871749e-05"/>
    </inertial>
  </link>
  <joint name="right_wrist_roll" type="revolute">
    <origin xyz="0.019000000000002754269 -3.5806785314562716849e-10 -0.02700000015244990656" rpy="3.4259954561441936844e-30 1.5707963267948314989 0"/>
    <parent link="2xl430_gears_6"/>
    <child link="hand_2"/>
    <axis xyz="0 0 1"/>
    <limit effort="1" velocity="20" lower="-1.3962634015954635824" upper="1.9198621771937625091"/>
    <joint_properties friction="0.0"/>
  </joint>
  <link name="wrist_bearing_plate_2">
    <visual>
      <origin xyz="0 0 0" rpy="0 -0 0"/>
      <geometry>
        <mesh filename="../assemblies/right_arm_umi/meshes/right_wrist_bearing_plate_visual.stl"/>
      </geometry>
      <material name="wrist_bearing_plate_material">
        <color rgba="0.71932243125689054875 0.63128434304969727187 0.52422389360984933404 1.0"/>
      </material>
    </visual>
    <inertial>
      <origin xyz="-0.0075835583121499862067 -0.015499999999999977338 -0.0018386323705903283732" rpy="0 0 0"/>
      <mass value="0.0049000367468305557062"/>
      <inertia ixx="4.9707430109150118544e-07" ixy="8.4884857117213009255e-23" ixz="1.8100904820814061718e-08" iyy="7.1268523603538553059e-07" iyz="4.7142878042649513411e-24" izz="1.1919657811600107117e-06"/>
    </inertial>
  </link>
  <joint name="right_wrist_pitch_fixed" type="fixed">
    <origin xyz="0.015500000000003963732 4.5519144009631418157e-15 -0.04500000000000373146" rpy="-3.0531133177156822825e-15 1.2051470932306205513e-13 -1.570796326794896558"/>
    <parent link="2xl430_gears_6"/>
    <child link="wrist_bearing_plate_2"/>
    <axis xyz="0 0 1"/>
    <limit effort="1" velocity="20"/>
    <joint_properties friction="0.0"/>
  </joint>
  <joint name="right_wrist_pitch_driven" type="revolute">
    <origin xyz="2.7755575615628913511e-17 3.1554436208840472216e-30 -0.0015999999999999972577" rpy="-3.8285686988021856593e-16 -1.2621774483536197294e-29 1.570796326794896558"/>
    <parent link="spur_1m_24t_driven_6"/>
    <child link="2xl430_gears_6"/>
    <axis xyz="0 0 1"/>
    <limit effort="1" velocity="20" lower="-1.9198621771937625091" upper="1.3962634015954635824"/>
    <joint_properties friction="0.0"/>
  </joint>
  <joint name="right_wrist_roll_fixed" type="fixed">
    <origin xyz="3.9443045261050590271e-30 -0.025299999999999999573 -0.051999999999999976796" rpy="1.570796326794896558 1.570796326794896558 0"/>
    <parent link="elb_yaw_link_2"/>
    <child link="spur_1m_24t_driven_6"/>
    <axis xyz="0 0 1"/>
    <limit effort="1" velocity="20"/>
    <joint_properties friction="0.0"/>
  </joint>
  <joint name="right_elbow_yaw_fixed" type="fixed">
    <origin xyz="3.4694469519536141888e-18 0 0.0016000000000000180744" rpy="3.141592653589793116 5.5511151240344703462e-17 -1.57079632679489678"/>
    <parent link="spur_1m_24t_driven_5"/>
    <child link="elb_yaw_link_2"/>
    <axis xyz="0 0 1"/>
    <limit effort="1" velocity="20"/>
    <joint_properties friction="0.0"/>
  </joint>
  <joint name="right_elbow_yaw_driven" type="revolute">
    <origin xyz="-3.5807115952857238028e-10 -0.027000000152453032531 -0.01900000000000281325" rpy="1.5707963267949576203 3.0519690799675378401e-14 -4.0239863453830675462e-14"/>
    <parent link="2xl430_gears_5"/>
    <child link="spur_1m_24t_driven_5"/>
    <axis xyz="0 0 1"/>
    <limit effort="1" velocity="20" lower="-2.6179938779914944114" upper="2.6179938779914944114"/>
    <joint_properties friction="0.0"/>
  </joint>
  <joint name="right_elbow_roll" type="revolute">
    <origin xyz="0 -0.018999999999999999528 -0.059000000000000024647" rpy="1.5707963267948952257 -4.3465231414242792334e-14 -2.6978419498660684154e-14"/>
    <parent link="sho_yaw_link_2"/>
    <child link="2xl430_gears_5"/>
    <axis xyz="0 0 1"/>
    <limit effort="1" velocity="20" lower="-1.9198621771937625091" upper="2.4434609527920612138"/>
    <joint_properties friction="0.0"/>
  </joint>
  <joint name="right_sho_yaw_fixed" type="fixed">
    <origin xyz="0 3.9443045261050590271e-31 0.0015999999999999972577" rpy="3.141592653589793116 -5.0487097934144755546e-29 -1.8301573001127473886e-28"/>
    <parent link="spur_1m_24t_driven_4"/>
    <child link="sho_yaw_link_2"/>
    <axis xyz="0 0 1"/>
    <limit effort="1" velocity="20"/>
    <joint_properties friction="0.0"/>
  </joint>
  <joint name="right_sho_yaw_driven" type="revolute">
    <origin xyz="-3.5806816886529979627e-10 -0.027000000152446666096 -0.019000000000003354483" rpy="1.5707963267949260899 -2.2055090607973039157e-14 7.6050277186033683693e-15"/>
    <parent link="2xl430_gears_4"/>
    <child link="spur_1m_24t_driven_4"/>
    <axis xyz="0 0 1"/>
    <limit effort="1" velocity="20" lower="-2.6179938779914944114" upper="2.6179938779914944114"/>
    <joint_properties friction="0.0"/>
  </joint>
  <joint name="right_sho_roll" type="revolute">
    <origin xyz="-0.018999999999999999528 9.3241386833306442318e-18 0.027000000000000006634" rpy="3.141592653589793116 1.5707963267948952257 0"/>
    <parent link="sho_pitch_link_2"/>
    <child link="2xl430_gears_4"/>
    <axis xyz="0 0 1"/>
    <limit effort="1" velocity="20" lower="-1.570796326794896558" upper="0.34906585039886589561"/>
    <joint_properties friction="0.0"/>
  </joint>
</robot>
